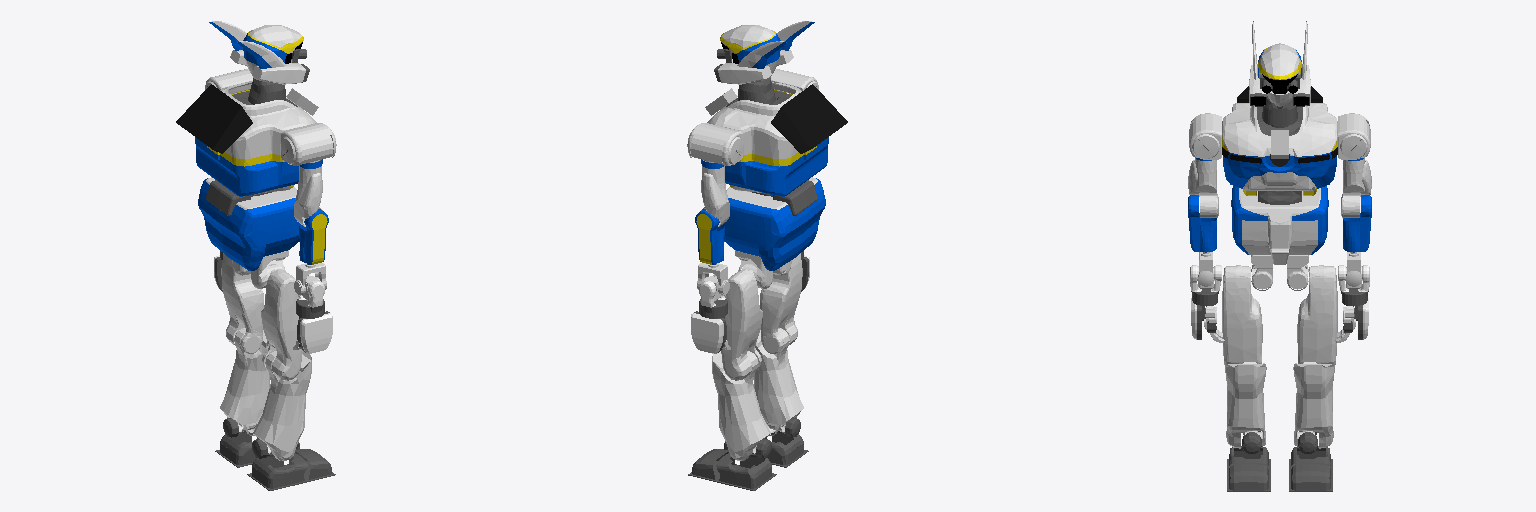
--- Render facts (derived) ---
The picture shows the robot from 3 angles, left to right: view 1: azimuth 30°, elevation 25°; view 2: azimuth 150°, elevation 25°; view 3: azimuth 270°, elevation 25°; orthographic projection.
Robot: HRP2JSKNT — 78 links, 77 joints (46 revolute, 3 continuous, 28 fixed); root link BODY; default pose: all joints at 0.
Visible links, largest first — view 1: CHEST_LINK1, BODY, HEAD_LINK1, RLEG_LINK3, RLEG_LINK2, LLEG_LINK3, LLEG_LINK2, RARM_LINK6, RLEG_LINK5, RARM_LINK2, RARM_LINK3, RARM_LINK0 (+7 smaller); view 2: CHEST_LINK1, BODY, HEAD_LINK1, LLEG_LINK3, LLEG_LINK2, RLEG_LINK3, RLEG_LINK2, LARM_LINK6, LLEG_LINK5, LARM_LINK2, LARM_LINK3, LARM_LINK0 (+7 smaller); view 3: CHEST_LINK1, BODY, LLEG_LINK2, RLEG_LINK2, HEAD_LINK1, LLEG_LINK3, RLEG_LINK3, LARM_LINK2, RARM_LINK2, LARM_LINK0, RARM_LINK0, LARM_LINK6 (+9 smaller).
Boxes of the visible links, x1,y1,x2,y2 form: CHEST_LINK1: (176,82,318,196); BODY: (198,177,300,270); HEAD_LINK1: (209,21,309,84); RLEG_LINK3: (253,351,311,460); RLEG_LINK2: (261,269,302,380); LLEG_LINK3: (220,328,269,435); LLEG_LINK2: (221,253,263,353); RARM_LINK6: (296,274,332,353); RLEG_LINK5: (252,439,309,488); RARM_LINK2: (294,159,322,226); RARM_LINK3: (299,209,328,264); RARM_LINK0: (281,123,336,165); CHEST_LINK1: (705,82,847,196); BODY: (723,177,825,270); HEAD_LINK1: (714,21,814,84); LLEG_LINK3: (712,351,770,460); LLEG_LINK2: (721,269,762,380); RLEG_LINK3: (754,328,803,435); RLEG_LINK2: (760,253,802,353); LARM_LINK6: (691,274,727,353); LLEG_LINK5: (714,439,771,488); LARM_LINK2: (701,159,729,226); LARM_LINK3: (695,209,724,264); LARM_LINK0: (687,123,742,165); CHEST_LINK1: (1222,86,1337,195); BODY: (1231,186,1328,264); LLEG_LINK2: (1297,265,1337,365); RLEG_LINK2: (1222,265,1262,365); HEAD_LINK1: (1249,21,1310,106); LLEG_LINK3: (1293,362,1334,448); RLEG_LINK3: (1225,362,1266,448); LARM_LINK2: (1341,158,1371,217); RARM_LINK2: (1188,158,1218,217); LARM_LINK0: (1338,113,1370,159); RARM_LINK0: (1189,113,1221,159); LARM_LINK6: (1338,265,1369,339).
Size in the robot's own frame: 0.4557 by 0.6201 by 1.61 metres.
47 mesh visuals loaded from 49 distinct referenced files (47 Collada DAE); not drawn: 2 (reference not matched to a file when rendering).

The robot description file, URDF, robot "HRP2JSKNT":
<?xml version="1.0" ?>
<!-- =================================================================================== -->
<!-- |    This document was autogenerated by xacro from [local-path]/ros/hydro/src/rtm-ros-robotics/rtmros_tutorials/hrpsys_ros_bridge_tutorials/models//HRP2JSKNT.urdf.xacro | -->
<!-- |    EDITING THIS FILE BY HAND IS NOT RECOMMENDED                                 | -->
<!-- =================================================================================== -->
<robot name="HRP2JSKNT" xmlns:xacro="http://www.ros.org/wiki/xacro" xmlns:xi="http://www.w3.org/2001/XInclude">
	<link name="BODY">
		<visual>
			<origin rpy="0 -0 0" xyz="0 0 0.718"/>
			<geometry>
				<mesh filename="package://hrpsys_ros_bridge_tutorials/models/HRP2JSKNT_meshes/BODY_mesh.dae" scale="1 1 1"/>
			</geometry>
		</visual>
		<collision>
			<origin rpy="0 -0 0" xyz="0 0 0.718"/>
			<geometry>
				<mesh filename="package://hrpsys_ros_bridge_tutorials/models/HRP2JSKNT_meshes/BODY_mesh.dae" scale="1 1 1"/>
			</geometry>
		</collision>
		<inertial>
			<mass value="13.5495"/>
			<origin rpy="0 -0 0" xyz="-0.036953 1.33107e-07 0.195848"/>
			<inertia ixx="0.161026" ixy="-2.6504e-07" ixz="0.000706962" iyy="0.09528" iyz="-1.95085e-07" izz="0.191914"/>
		</inertial>
	</link>
	<gazebo reference="BODY">
		<mu1>0.9</mu1>
		<mu2>0.9</mu2>
	</gazebo>
	<link name="CHEST_LINK0">
		<visual>
			<origin rpy="0 -0 0" xyz="0.032 0 0.3507"/>
			<geometry>
				<mesh filename="package://hrpsys_ros_bridge_tutorials/models/HRP2JSKNT_meshes/CHEST_LINK0_mesh.dae" scale="1 1 1"/>
			</geometry>
		</visual>
		<collision>
			<origin rpy="0 -0 0" xyz="0.032 0 0.3507"/>
			<geometry>
				<mesh filename="package://hrpsys_ros_bridge_tutorials/models/HRP2JSKNT_meshes/CHEST_LINK0_mesh.dae" scale="1 1 1"/>
			</geometry>
		</collision>
		<inertial>
			<mass value="0.786369"/>
			<origin rpy="0 -0 0" xyz="-0.0158016 0.00529544 -0.0251963"/>
			<inertia ixx="0.00181617" ixy="-7.322e-05" ixz="-0.00027731" iyy="0.00185079" iyz="-0.00010749" izz="0.00233207"/>
		</inertial>
	</link>
	<gazebo reference="CHEST_LINK0">
		<mu1>0.9</mu1>
		<mu2>0.9</mu2>
	</gazebo>
	<link name="CHEST_LINK1">
		<visual>
			<origin rpy="0 -0 0" xyz="0 0 0"/>
			<geometry>
				<mesh filename="package://hrpsys_ros_bridge_tutorials/models/HRP2JSKNT_meshes/CHEST_LINK1_mesh.dae" scale="1 1 1"/>
			</geometry>
		</visual>
		<collision>
			<origin rpy="0 -0 0" xyz="0 0 0"/>
			<geometry>
				<mesh filename="package://hrpsys_ros_bridge_tutorials/models/HRP2JSKNT_meshes/CHEST_LINK1_mesh.dae" scale="1 1 1"/>
			</geometry>
		</collision>
		<inertial>
			<mass value="12.4296"/>
			<origin rpy="0 -0 0" xyz="-0.038751 0.006642 0.129476"/>
			<inertia ixx="0.160476" ixy="-0.00135932" ixz="-0.00414493" iyy="0.136846" iyz="0.00388036" izz="0.181669"/>
		</inertial>
	</link>
	<gazebo reference="CHEST_LINK1">
		<mu1>0.9</mu1>
		<mu2>0.9</mu2>
	</gazebo>
	<link name="HEAD_LINK0">
		<visual>
			<origin rpy="0 -0 0" xyz="-0.007 0 0.2973"/>
			<geometry>
				<mesh filename="package://hrpsys_ros_bridge_tutorials/models/HRP2JSKNT_meshes/HEAD_LINK0_mesh.dae" scale="1 1 1"/>
			</geometry>
		</visual>
		<collision>
			<origin rpy="0 -0 0" xyz="-0.007 0 0.2973"/>
			<geometry>
				<mesh filename="package://hrpsys_ros_bridge_tutorials/models/HRP2JSKNT_meshes/HEAD_LINK0_mesh.dae" scale="1 1 1"/>
			</geometry>
		</collision>
		<inertial>
			<mass value="0.362181"/>
			<origin rpy="0 -0 0" xyz="-0.00090801 0.00274824 -0.00825901"/>
			<inertia ixx="0.00038285" ixy="-5.2e-07" ixz="2.24e-06" iyy="0.00021609" iyz="-7.26e-06" izz="0.0003473"/>
		</inertial>
	</link>
	<gazebo reference="HEAD_LINK0">
		<mu1>0.9</mu1>
		<mu2>0.9</mu2>
	</gazebo>
	<link name="HEAD_LINK1">
		<visual>
			<origin rpy="0 -0 0" xyz="0 0 0"/>
			<geometry>
				<mesh filename="package://hrpsys_ros_bridge_tutorials/models/HRP2JSKNT_meshes/HEAD_LINK1_mesh.dae" scale="1 1 1"/>
			</geometry>
		</visual>
		<collision>
			<origin rpy="0 -0 0" xyz="0 0 0"/>
			<geometry>
				<mesh filename="package://hrpsys_ros_bridge_tutorials/models/HRP2JSKNT_meshes/HEAD_LINK1_mesh.dae" scale="1 1 1"/>
			</geometry>
		</collision>
		<inertial>
			<mass value="3.02154"/>
			<origin rpy="0 -0 0" xyz="0.002748 -0.000165 0.096609"/>
			<inertia ixx="0.00393357" ixy="4.68e-06" ixz="7.928e-05" iyy="0.00413822" iyz="-9.051e-05" izz="0.00524469"/>
		</inertial>
	</link>
	<gazebo reference="HEAD_LINK1">
		<mu1>0.9</mu1>
		<mu2>0.9</mu2>
	</gazebo>
	<link name="LARM_LINK0">
		<visual>
			<origin rpy="0 -0 0" xyz="0.008 0.25 0.181"/>
			<geometry>
				<mesh filename="package://hrpsys_ros_bridge_tutorials/models/HRP2JSKNT_meshes/LARM_LINK0_mesh.dae" scale="1 1 1"/>
			</geometry>
		</visual>
		<collision>
			<origin rpy="0 -0 0" xyz="0.008 0.25 0.181"/>
			<geometry>
				<mesh filename="package://hrpsys_ros_bridge_tutorials/models/HRP2JSKNT_meshes/LARM_LINK0_mesh.dae" scale="1 1 1"/>
			</geometry>
		</collision>
		<inertial>
			<mass value="0.810076"/>
			<origin rpy="0 -0 0" xyz="-0.00989448 -0.0464526 -0.00015316"/>
			<inertia ixx="0.00221115" ixy="0.00030424" ixz="1.47e-06" iyy="0.00184189" iyz="-4.667e-05" izz="0.00344772"/>
		</inertial>
	</link>
	<gazebo reference="LARM_LINK0">
		<mu1>0.9</mu1>
		<mu2>0.9</mu2>
	</gazebo>
	<link name="LARM_LINK1">
		<visual>
			<origin rpy="0 -0 0" xyz="0 0 0"/>
			<geometry>
				<mesh filename="package://hrpsys_ros_bridge_tutorials/models/HRP2JSKNT_meshes/LARM_LINK1_mesh.dae" scale="1 1 1"/>
			</geometry>
		</visual>
		<collision>
			<origin rpy="0 -0 0" xyz="0 0 0"/>
			<geometry>
				<mesh filename="package://hrpsys_ros_bridge_tutorials/models/HRP2JSKNT_meshes/LARM_LINK1_mesh.dae" scale="1 1 1"/>
			</geometry>
		</collision>
		<inertial>
			<mass value="1.03448"/>
			<origin rpy="0 -0 0" xyz="-0.0105646 0.0120429 -0.00948156"/>
			<inertia ixx="0.00122098" ixy="-0.00028119" ixz="9.407e-05" iyy="0.00172216" iyz="-0.00012041" izz="0.00161319"/>
		</inertial>
	</link>
	<gazebo reference="LARM_LINK1">
		<mu1>0.9</mu1>
		<mu2>0.9</mu2>
	</gazebo>
	<link name="LARM_LINK2">
		<visual>
			<origin rpy="0 -0 0" xyz="0 0 0"/>
			<geometry>
				<mesh filename="package://hrpsys_ros_bridge_tutorials/models/HRP2JSKNT_meshes/LARM_LINK2_mesh.dae" scale="1 1 1"/>
			</geometry>
		</visual>
		<collision>
			<origin rpy="0 -0 0" xyz="0 0 0"/>
			<geometry>
				<mesh filename="package://hrpsys_ros_bridge_tutorials/models/HRP2JSKNT_meshes/LARM_LINK2_mesh.dae" scale="1 1 1"/>
			</geometry>
		</collision>
		<inertial>
			<mass value="1.59929"/>
			<origin rpy="0 -0 0" xyz="-0.00543072 0.00479797 -0.166872"/>
			<inertia ixx="0.00973049" ixy="5.13304e-05" ixz="-0.000199167" iyy="0.00970372" iyz="-0.000137469" izz="0.00135331"/>
		</inertial>
	</link>
	<gazebo reference="LARM_LINK2">
		<mu1>0.9</mu1>
		<mu2>0.9</mu2>
	</gazebo>
	<link name="LARM_LINK3">
		<visual>
			<origin rpy="0 -0 0" xyz="0 0 -0.25"/>
			<geometry>
				<mesh filename="package://hrpsys_ros_bridge_tutorials/models/HRP2JSKNT_meshes/LARM_LINK3_mesh.dae" scale="1 1 1"/>
			</geometry>
		</visual>
		<collision>
			<origin rpy="0 -0 0" xyz="0 0 -0.25"/>
			<geometry>
				<mesh filename="package://hrpsys_ros_bridge_tutorials/models/HRP2JSKNT_meshes/LARM_LINK3_mesh.dae" scale="1 1 1"/>
			</geometry>
		</collision>
		<inertial>
			<mass value="0.77725"/>
			<origin rpy="0 -0 0" xyz="-9.27e-06 0.0161684 -0.0627015"/>
			<inertia ixx="0.00232668" ixy="-7e-08" ixz="-3.1e-07" iyy="0.00212476" iyz="-0.00015097" izz="0.00056363"/>
		</inertial>
	</link>
	<gazebo reference="LARM_LINK3">
		<mu1>0.9</mu1>
		<mu2>0.9</mu2>
	</gazebo>
	<link name="LARM_LINK4">
		<visual>
			<origin rpy="0 -0 0" xyz="0 0 -0.25"/>
			<geometry>
				<mesh filename="package://hrpsys_ros_bridge_tutorials/models/HRP2JSKNT_meshes/LARM_LINK4_mesh.dae" scale="1 1 1"/>
			</geometry>
		</visual>
		<collision>
			<origin rpy="0 -0 0" xyz="0 0 -0.25"/>
			<geometry>
				<mesh filename="package://hrpsys_ros_bridge_tutorials/models/HRP2JSKNT_meshes/LARM_LINK4_mesh.dae" scale="1 1 1"/>
			</geometry>
		</collision>
		<inertial>
			<mass value="0.328543"/>
			<origin rpy="0 -0 0" xyz="-0.00840122 -1.406e-05 0.0472199"/>
			<inertia ixx="0.00084438" ixy="4e-08" ixz="-0.00013812" iyy="0.00105692" iyz="2.3e-07" izz="0.00034468"/>
		</inertial>
	</link>
	<gazebo reference="LARM_LINK4">
		<mu1>0.9</mu1>
		<mu2>0.9</mu2>
	</gazebo>
	<link name="LARM_LINK5">
		<visual>
			<origin rpy="0 -0 0" xyz="0 0 0"/>
			<geometry>
				<mesh filename="package://hrpsys_ros_bridge_tutorials/models/HRP2JSKNT_meshes/LARM_LINK5_mesh.dae" scale="1 1 1"/>
			</geometry>
		</visual>
		<collision>
			<origin rpy="0 -0 0" xyz="0 0 0"/>
			<geometry>
				<mesh filename="package://hrpsys_ros_bridge_tutorials/models/HRP2JSKNT_meshes/LARM_LINK5_mesh.dae" scale="1 1 1"/>
			</geometry>
		</collision>
		<inertial>
			<mass value="0.460767"/>
			<origin rpy="0 -0 0" xyz="0.00361678 0.00180569 -0.00656872"/>
			<inertia ixx="0.00026432" ixy="3.17e-06" ixz="-1.177e-05" iyy="0.0002938" iyz="-1.08e-05" izz="0.0002986"/>
		</inertial>
	</link>
	<gazebo reference="LARM_LINK5">
		<mu1>0.9</mu1>
		<mu2>0.9</mu2>
	</gazebo>
	<link name="LARM_LINK7">
		<visual>
			<origin rpy="0 -0 0" xyz="0 -0.0169 -0.114"/>
			<geometry>
				<mesh filename="package://hrpsys_ros_bridge_tutorials/models/HRP2JSKNT_meshes/LARM_LINK7_mesh.dae" scale="1 1 1"/>
			</geometry>
		</visual>
		<collision>
			<origin rpy="0 -0 0" xyz="0 -0.0169 -0.114"/>
			<geometry>
				<mesh filename="package://hrpsys_ros_bridge_tutorials/models/HRP2JSKNT_meshes/LARM_LINK7_mesh.dae" scale="1 1 1"/>
			</geometry>
		</collision>
		<inertial>
			<origin rpy="0 -0 0" xyz="0 0 -1.38778e-17"/>
			<mass value="1e-03"/>
			<inertia ixx="1e-04" ixy="0" ixz="0" iyy="1e-04" iyz="0" izz="1e-04"/>
		</inertial>
	</link>
	<gazebo reference="LARM_LINK7">
		<mu1>0.9</mu1>
		<mu2>0.9</mu2>
	</gazebo>
	<link name="RARM_LINK0">
		<visual>
			<origin rpy="0 -0 0" xyz="0.008 -0.25 0.181"/>
			<geometry>
				<mesh filename="package://hrpsys_ros_bridge_tutorials/models/HRP2JSKNT_meshes/RARM_LINK0_mesh.dae" scale="1 1 1"/>
			</geometry>
		</visual>
		<collision>
			<origin rpy="0 -0 0" xyz="0.008 -0.25 0.181"/>
			<geometry>
				<mesh filename="package://hrpsys_ros_bridge_tutorials/models/HRP2JSKNT_meshes/RARM_LINK0_mesh.dae" scale="1 1 1"/>
			</geometry>
		</collision>
		<inertial>
			<mass value="0.810076"/>
			<origin rpy="0 -0 0" xyz="-0.00989448 0.0464526 -0.00015316"/>
			<inertia ixx="0.00221115" ixy="-0.00030424" ixz="1.47e-06" iyy="0.00184189" iyz="4.667e-05" izz="0.00344772"/>
		</inertial>
	</link>
	<gazebo reference="RARM_LINK0">
		<mu1>0.9</mu1>
		<mu2>0.9</mu2>
	</gazebo>
	<link name="RARM_LINK1">
		<visual>
			<origin rpy="0 -0 0" xyz="0 0 0"/>
			<geometry>
				<mesh filename="package://hrpsys_ros_bridge_tutorials/models/HRP2JSKNT_meshes/RARM_LINK1_mesh.dae" scale="1 1 1"/>
			</geometry>
		</visual>
		<collision>
			<origin rpy="0 -0 0" xyz="0 0 0"/>
			<geometry>
				<mesh filename="package://hrpsys_ros_bridge_tutorials/models/HRP2JSKNT_meshes/RARM_LINK1_mesh.dae" scale="1 1 1"/>
			</geometry>
		</collision>
		<inertial>
			<mass value="1.03448"/>
			<origin rpy="0 -0 0" xyz="-0.0105646 -0.0120429 -0.00948156"/>
			<inertia ixx="0.00122098" ixy="0.00028119" ixz="9.407e-05" iyy="0.00172216" iyz="0.00012041" izz="0.00161319"/>
		</inertial>
	</link>
	<gazebo reference="RARM_LINK1">
		<mu1>0.9</mu1>
		<mu2>0.9</mu2>
	</gazebo>
	<link name="RARM_LINK2">
		<visual>
			<origin rpy="0 -0 0" xyz="0 0 0"/>
			<geometry>
				<mesh filename="package://hrpsys_ros_bridge_tutorials/models/HRP2JSKNT_meshes/RARM_LINK2_mesh.dae" scale="1 1 1"/>
			</geometry>
		</visual>
		<collision>
			<origin rpy="0 -0 0" xyz="0 0 0"/>
			<geometry>
				<mesh filename="package://hrpsys_ros_bridge_tutorials/models/HRP2JSKNT_meshes/RARM_LINK2_mesh.dae" scale="1 1 1"/>
			</geometry>
		</collision>
		<inertial>
			<mass value="1.59929"/>
			<origin rpy="0 -0 0" xyz="-0.00543072 -0.00479797 -0.166872"/>
			<inertia ixx="0.00973049" ixy="-5.13304e-05" ixz="-0.000199167" iyy="0.00970372" iyz="0.000137469" izz="0.00135331"/>
		</inertial>
	</link>
	<gazebo reference="RARM_LINK2">
		<mu1>0.9</mu1>
		<mu2>0.9</mu2>
	</gazebo>
	<link name="RARM_LINK3">
		<visual>
			<origin rpy="0 -0 0" xyz="0 0 -0.25"/>
			<geometry>
				<mesh filename="package://hrpsys_ros_bridge_tutorials/models/HRP2JSKNT_meshes/RARM_LINK3_mesh.dae" scale="1 1 1"/>
			</geometry>
		</visual>
		<collision>
			<origin rpy="0 -0 0" xyz="0 0 -0.25"/>
			<geometry>
				<mesh filename="package://hrpsys_ros_bridge_tutorials/models/HRP2JSKNT_meshes/RARM_LINK3_mesh.dae" scale="1 1 1"/>
			</geometry>
		</collision>
		<inertial>
			<mass value="0.77725"/>
			<origin rpy="0 -0 0" xyz="-9.27e-06 -0.0161684 -0.0627015"/>
			<inertia ixx="0.00232668" ixy="7e-08" ixz="-3.1e-07" iyy="0.00212476" iyz="0.00015097" izz="0.00056363"/>
		</inertial>
	</link>
	<gazebo reference="RARM_LINK3">
		<mu1>0.9</mu1>
		<mu2>0.9</mu2>
	</gazebo>
	<link name="RARM_LINK4">
		<visual>
			<origin rpy="0 -0 0" xyz="0 0 -0.25"/>
			<geometry>
				<mesh filename="package://hrpsys_ros_bridge_tutorials/models/HRP2JSKNT_meshes/RARM_LINK4_mesh.dae" scale="1 1 1"/>
			</geometry>
		</visual>
		<collision>
			<origin rpy="0 -0 0" xyz="0 0 -0.25"/>
			<geometry>
				<mesh filename="package://hrpsys_ros_bridge_tutorials/models/HRP2JSKNT_meshes/RARM_LINK4_mesh.dae" scale="1 1 1"/>
			</geometry>
		</collision>
		<inertial>
			<mass value="0.328543"/>
			<origin rpy="0 -0 0" xyz="-0.00840122 1.406e-05 0.0472199"/>
			<inertia ixx="0.00084438" ixy="-4e-08" ixz="-0.00013812" iyy="0.00105692" iyz="-2.3e-07" izz="0.00034468"/>
		</inertial>
	</link>
	<gazebo reference="RARM_LINK4">
		<mu1>0.9</mu1>
		<mu2>0.9</mu2>
	</gazebo>
	<link name="RARM_LINK5">
		<visual>
			<origin rpy="0 -0 0" xyz="0 0 0"/>
			<geometry>
				<mesh filename="package://hrpsys_ros_bridge_tutorials/models/HRP2JSKNT_meshes/RARM_LINK5_mesh.dae" scale="1 1 1"/>
			</geometry>
		</visual>
		<collision>
			<origin rpy="0 -0 0" xyz="0 0 0"/>
			<geometry>
				<mesh filename="package://hrpsys_ros_bridge_tutorials/models/HRP2JSKNT_meshes/RARM_LINK5_mesh.dae" scale="1 1 1"/>
			</geometry>
		</collision>
		<inertial>
			<mass value="0.460767"/>
			<origin rpy="0 -0 0" xyz="0.00361678 -0.00180569 -0.00656872"/>
			<inertia ixx="0.00026432" ixy="-3.17e-06" ixz="-1.177e-05" iyy="0.0002938" iyz="1.08e-05" izz="0.0002986"/>
		</inertial>
	</link>
	<gazebo reference="RARM_LINK5">
		<mu1>0.9</mu1>
		<mu2>0.9</mu2>
	</gazebo>
	<link name="RARM_LINK7">
		<visual>
			<origin rpy="0 -0 0" xyz="0 0.0169 -0.114"/>
			<geometry>
				<mesh filename="package://hrpsys_ros_bridge_tutorials/models/HRP2JSKNT_meshes/RARM_LINK7_mesh.dae" scale="1 1 1"/>
			</geometry>
		</visual>
		<collision>
			<origin rpy="0 -0 0" xyz="0 0.0169 -0.114"/>
			<geometry>
				<mesh filename="package://hrpsys_ros_bridge_tutorials/models/HRP2JSKNT_meshes/RARM_LINK7_mesh.dae" scale="1 1 1"/>
			</geometry>
		</collision>
		<inertial>
			<origin rpy="0 -0 0" xyz="0 0 -1.38778e-17"/>
			<mass value="1e-03"/>
			<inertia ixx="1e-04" ixy="0" ixz="0" iyy="1e-04" iyz="0" izz="1e-04"/>
		</inertial>
	</link>
	<gazebo reference="RARM_LINK7">
		<mu1>0.9</mu1>
		<mu2>0.9</mu2>
	</gazebo>
	<link name="LLEG_LINK0">
		<visual>
			<origin rpy="0 -0 0" xyz="0 0.06 0"/>
			<geometry>
				<mesh filename="package://hrpsys_ros_bridge_tutorials/models/HRP2JSKNT_meshes/LLEG_LINK0_mesh.dae" scale="1 1 1"/>
			</geometry>
		</visual>
		<collision>
			<origin rpy="0 -0 0" xyz="0 0.06 0"/>
			<geometry>
				<mesh filename="package://hrpsys_ros_bridge_tutorials/models/HRP2JSKNT_meshes/LLEG_LINK0_mesh.dae" scale="1 1 1"/>
			</geometry>
		</collision>
		<inertial>
			<mass value="1.16852"/>
			<origin rpy="0 -0 0" xyz="-0.0103793 -0.00484329 0.0649015"/>
			<inertia ixx="0.00285998" ixy="1.43424e-05" ixz="-0.000555819" iyy="0.00352974" iyz="-8.84038e-06" izz="0.00145427"/>
		</inertial>
	</link>
	<gazebo reference="LLEG_LINK0">
		<mu1>0.9</mu1>
		<mu2>0.9</mu2>
	</gazebo>
	<link name="LLEG_LINK1">
		<visual>
			<origin rpy="0 -0 0" xyz="0 0 0"/>
			<geometry>
				<mesh filename="package://hrpsys_ros_bridge_tutorials/models/HRP2JSKNT_meshes/LLEG_LINK1_mesh.dae" scale="1 1 1"/>
			</geometry>
		</visual>
		<collision>
			<origin rpy="0 -0 0" xyz="0 0 0"/>
			<geometry>
				<mesh filename="package://hrpsys_ros_bridge_tutorials/models/HRP2JSKNT_meshes/LLEG_LINK1_mesh.dae" scale="1 1 1"/>
			</geometry>
		</collision>
		<inertial>
			<mass value="0.80553"/>
			<origin rpy="0 -0 0" xyz="-0.00039826 0.0261287 -0.00292156"/>
			<inertia ixx="0.00126683" ixy="-1.211e-05" ixz="1.64e-06" iyy="0.00050656" iyz="-6.938e-05" izz="0.00132021"/>
		</inertial>
	</link>
	<gazebo reference="LLEG_LINK1">
		<mu1>0.9</mu1>
		<mu2>0.9</mu2>
	</gazebo>
	<link name="LLEG_LINK2">
		<visual>
			<origin rpy="0 -0 0" xyz="0 0 0"/>
			<geometry>
				<mesh filename="package://hrpsys_ros_bridge_tutorials/models/HRP2JSKNT_meshes/LLEG_LINK2_mesh.dae" scale="1 1 1"/>
			</geometry>
		</visual>
		<collision>
			<origin rpy="0 -0 0" xyz="0 0 0"/>
			<geometry>
				<mesh filename="package://hrpsys_ros_bridge_tutorials/models/HRP2JSKNT_meshes/LLEG_LINK2_mesh.dae" scale="1 1 1"/>
			</geometry>
		</collision>
		<inertial>
			<mass value="2.07632"/>
			<origin rpy="0 -0 0" xyz="0.00345946 0.0779422 -0.151684"/>
			<inertia ixx="0.0261976" ixy="3.95406e-05" ixz="0.000573517" iyy="0.0249235" iyz="-0.000670077" izz="0.00376439"/>
		</inertial>
	</link>
	<gazebo reference="LLEG_LINK2">
		<mu1>0.9</mu1>
		<mu2>0.9</mu2>
	</gazebo>
	<link name="LLEG_LINK3">
		<visual>
			<origin rpy="0 -0 0" xyz="0 0 -0.3"/>
			<geometry>
				<mesh filename="package://hrpsys_ros_bridge_tutorials/models/HRP2JSKNT_meshes/LLEG_LINK3_mesh.dae" scale="1 1 1"/>
			</geometry>
		</visual>
		<collision>
			<origin rpy="0 -0 0" xyz="0 0 -0.3"/>
			<geometry>
				<mesh filename="package://hrpsys_ros_bridge_tutorials/models/HRP2JSKNT_meshes/LLEG_LINK3_mesh.dae" scale="1 1 1"/>
			</geometry>
		</collision>
		<inertial>
			<mass value="1.74762"/>
			<origin rpy="0 -0 0" xyz="0.0179878 0.0579164 -0.13839"/>
			<inertia ixx="0.0223269" ixy="9.39152e-05" ixz="-0.00224766" iyy="0.022506" iyz="0.000745178" izz="0.0045544"/>
		</inertial>
	</link>
	<gazebo reference="LLEG_LINK3">
		<mu1>0.9</mu1>
		<mu2>0.9</mu2>
	</gazebo>
	<link name="LLEG_LINK4">
		<visual>
			<origin rpy="0 -0 0" xyz="0 0.035 -0.3"/>
			<geometry>
				<mesh filename="package://hrpsys_ros_bridge_tutorials/models/HRP2JSKNT_meshes/LLEG_LINK4_mesh.dae" scale="1 1 1"/>
			</geometry>
		</visual>
		<collision>
			<origin rpy="0 -0 0" xyz="0 0.035 -0.3"/>
			<geometry>
				<mesh filename="package://hrpsys_ros_bridge_tutorials/models/HRP2JSKNT_meshes/LLEG_LINK4_mesh.dae" scale="1 1 1"/>
			</geometry>
		</collision>
		<inertial>
			<mass value="0.65375"/>
			<origin rpy="0 -0 0" xyz="0.00827083 0.00133301 -0.002418"/>
			<inertia ixx="0.00027773" ixy="5.26e-06" ixz="1.354e-05" iyy="0.00078966" iyz="3.59e-06" izz="0.00086039"/>
		</inertial>
	</link>
	<gazebo reference="LLEG_LINK4">
		<mu1>0.9</mu1>
		<mu2>0.9</mu2>
	</gazebo>
	<link name="LLEG_LINK5">
		<visual>
			<origin rpy="0 -0 0" xyz="0 0 0"/>
			<geometry>
				<mesh filename="package://hrpsys_ros_bridge_tutorials/models/HRP2JSKNT_meshes/LLEG_LINK5_mesh.dae" scale="1 1 1"/>
			</geometry>
		</visual>
		<collision>
			<origin rpy="0 -0 0" xyz="0 0 0"/>
			<geometry>
				<mesh filename="package://hrpsys_ros_bridge_tutorials/models/HRP2JSKNT_meshes/LLEG_LINK5_mesh.dae" scale="1 1 1"/>
			</geometry>
		</collision>
		<inertial>
			<mass value="1.80877"/>
			<origin rpy="0 -0 0" xyz="-0.000602 0.004248 -0.066744"/>
			<inertia ixx="0.00400076" ixy="-9.983e-05" ixz="0.00079295" iyy="0.00687611" iyz="0.00018541" izz="0.00711516"/>
		</inertial>
	</link>
	<link name="LLEG_LINK6">
		<visual>
			<origin rpy="0 -0 0" xyz="0.115 0 -0.084"/>
			<geometry>
				<mesh filename="package://hrpsys_ros_bridge_tutorials/models/HRP2JSKNT_meshes/LLEG_LINK6_mesh.dae" scale="1 1 1"/>
			</geometry>
		</visual>
		<collision>
			<origin rpy="0 -0 0" xyz="0.115 0 -0.084"/>
			<geometry>
				<mesh filename="package://hrpsys_ros_bridge_tutorials/models/HRP2JSKNT_meshes/LLEG_LINK6_mesh.dae" scale="1 1 1"/>
			</geometry>
		</collision>
		<inertial>
			<mass value="0.819152"/>
			<origin rpy="0 -0 0" xyz="-0.011449 0.004827 -0.019364"/>
			<inertia ixx="0.00076266" ixy="2.741e-05" ixz="2.69e-06" iyy="0.00035733" iyz="1.182e-05" izz="0.00095164"/>
		</inertial>
	</link>
	<link name="RLEG_LINK0">
		<visual>
			<origin rpy="0 -0 0" xyz="0 -0.06 0"/>
			<geometry>
				<mesh filename="package://hrpsys_ros_bridge_tutorials/models/HRP2JSKNT_meshes/RLEG_LINK0_mesh.dae" scale="1 1 1"/>
			</geometry>
		</visual>
		<collision>
			<origin rpy="0 -0 0" xyz="0 -0.06 0"/>
			<geometry>
				<mesh filename="package://hrpsys_ros_bridge_tutorials/models/HRP2JSKNT_meshes/RLEG_LINK0_mesh.dae" scale="1 1 1"/>
			</geometry>
		</collision>
		<inertial>
			<mass value="1.16852"/>
			<origin rpy="0 -0 0" xyz="-0.0103793 0.00484329 0.0649015"/>
			<inertia ixx="0.00285998" ixy="-1.43424e-05" ixz="-0.000555819" iyy="0.00352974" iyz="8.84038e-06" izz="0.00145427"/>
		</inertial>
	</link>
	<gazebo reference="RLEG_LINK0">
		<mu1>0.9</mu1>
		<mu2>0.9</mu2>
	</gazebo>
	<link name="RLEG_LINK1">
		<visual>
			<origin rpy="0 -0 0" xyz="0 0 0"/>
			<geometry>
				<mesh filename="package://hrpsys_ros_bridge_tutorials/models/HRP2JSKNT_meshes/RLEG_LINK1_mesh.dae" scale="1 1 1"/>
			</geometry>
		</visual>
		<collision>
			<origin rpy="0 -0 0" xyz="0 0 0"/>
			<geometry>
				<mesh filename="package://hrpsys_ros_bridge_tutorials/models/HRP2JSKNT_meshes/RLEG_LINK1_mesh.dae" scale="1 1 1"/>
			</geometry>
		</collision>
		<inertial>
			<mass value="0.80553"/>
			<origin rpy="0 -0 0" xyz="-0.00039826 -0.0261287 -0.00292156"/>
			<inertia ixx="0.00126683" ixy="1.211e-05" ixz="1.64e-06" iyy="0.00050656" iyz="6.938e-05" izz="0.00132021"/>
		</inertial>
	</link>
	<gazebo reference="RLEG_LINK1">
		<mu1>0.9</mu1>
		<mu2>0.9</mu2>
	</gazebo>
	<link name="RLEG_LINK2">
		<visual>
			<origin rpy="0 -0 0" xyz="0 0 0"/>
			<geometry>
				<mesh filename="package://hrpsys_ros_bridge_tutorials/models/HRP2JSKNT_meshes/RLEG_LINK2_mesh.dae" scale="1 1 1"/>
			</geometry>
		</visual>
		<collision>
			<origin rpy="0 -0 0" xyz="0 0 0"/>
			<geometry>
				<mesh filename="package://hrpsys_ros_bridge_tutorials/models/HRP2JSKNT_meshes/RLEG_LINK2_mesh.dae" scale="1 1 1"/>
			</geometry>
		</collision>
		<inertial>
			<mass value="2.07632"/>
			<origin rpy="0 -0 0" xyz="0.00345946 -0.0779422 -0.151684"/>
			<inertia ixx="0.0261976" ixy="-3.95406e-05" ixz="0.000573517" iyy="0.0249235" iyz="0.000670077" izz="0.00376439"/>
		</inertial>
	</link>
	<gazebo reference="RLEG_LINK2">
		<mu1>0.9</mu1>
		<mu2>0.9</mu2>
	</gazebo>
	<link name="RLEG_LINK3">
		<visual>
			<origin rpy="0 -0 0" xyz="0 0 -0.3"/>
			<geometry>
				<mesh filename="package://hrpsys_ros_bridge_tutorials/models/HRP2JSKNT_meshes/RLEG_LINK3_mesh.dae" scale="1 1 1"/>
			</geometry>
		</visual>
		<collision>
			<origin rpy="0 -0 0" xyz="0 0 -0.3"/>
			<geometry>
				<mesh filename="package://hrpsys_ros_bridge_tutorials/models/HRP2JSKNT_meshes/RLEG_LINK3_mesh.dae" scale="1 1 1"/>
			</geometry>
		</collision>
		<inertial>
			<mass value="1.74762"/>
			<origin rpy="0 -0 0" xyz="0.0179878 -0.0579164 -0.13839"/>
			<inertia ixx="0.0223269" ixy="-9.39152e-05" ixz="-0.00224766" iyy="0.022506" iyz="-0.000745178" izz="0.0045544"/>
		</inertial>
	</link>
	<gazebo reference="RLEG_LINK3">
		<mu1>0.9</mu1>
		<mu2>0.9</mu2>
	</gazebo>
	<link name="RLEG_LINK4">
		<visual>
			<origin rpy="0 -0 0" xyz="0 -0.035 -0.3"/>
			<geometry>
				<mesh filename="package://hrpsys_ros_bridge_tutorials/models/HRP2JSKNT_meshes/RLEG_LINK4_mesh.dae" scale="1 1 1"/>
			</geometry>
		</visual>
		<collision>
			<origin rpy="0 -0 0" xyz="0 -0.035 -0.3"/>
			<geometry>
				<mesh filename="package://hrpsys_ros_bridge_tutorials/models/HRP2JSKNT_meshes/RLEG_LINK4_mesh.dae" scale="1 1 1"/>
			</geometry>
		</collision>
		<inertial>
			<mass value="0.65375"/>
			<origin rpy="0 -0 0" xyz="0.00827083 -0.00133301 -0.002418"/>
			<inertia ixx="0.00027773" ixy="-5.26e-06" ixz="1.354e-05" iyy="0.00078966" iyz="-3.59e-06" izz="0.00086039"/>
		</inertial>
	</link>
	<gazebo reference="RLEG_LINK4">
		<mu1>0.9</mu1>
		<mu2>0.9</mu2>
	</gazebo>
	<link name="RLEG_LINK5">
		<visual>
			<origin rpy="0 -0 0" xyz="0 0 0"/>
			<geometry>
				<mesh filename="package://hrpsys_ros_bridge_tutorials/models/HRP2JSKNT_meshes/RLEG_LINK5_mesh.dae" scale="1 1 1"/>
			</geometry>
		</visual>
		<collision>
			<origin rpy="0 -0 0" xyz="0 0 0"/>
			<geometry>
				<mesh filename="package://hrpsys_ros_bridge_tutorials/models/HRP2JSKNT_meshes/RLEG_LINK5_mesh.dae" scale="1 1 1"/>
			</geometry>
		</collision>
		<inertial>
			<mass value="1.80877"/>
			<origin rpy="0 -0 0" xyz="-0.000602 -0.004248 -0.066744"/>
			<inertia ixx="0.00400076" ixy="9.983e-05" ixz="0.00079295" iyy="0.00687611" iyz="-0.00018541" izz="0.00711516"/>
		</inertial>
	</link>
	<link name="RLEG_LINK6">
		<visual>
			<origin rpy="0 -0 0" xyz="0.115 0 -0.084"/>
			<geometry>
				<mesh filename="package://hrpsys_ros_bridge_tutorials/models/HRP2JSKNT_meshes/RLEG_LINK6_mesh.dae" scale="1 1 1"/>
			</geometry>
		</visual>
		<collision>
			<origin rpy="0 -0 0" xyz="0.115 0 -0.084"/>
			<geometry>
				<mesh filename="package://hrpsys_ros_bridge_tutorials/models/HRP2JSKNT_meshes/RLEG_LINK6_mesh.dae" scale="1 1 1"/>
			</geometry>
		</collision>
		<inertial>
			<mass value="0.819152"/>
			<origin rpy="0 -0 0" xyz="-0.011449 -0.012396 -0.019364"/>
			<inertia ixx="0.00076266" ixy="2.741e-05" ixz="2.69e-06" iyy="0.00035733" iyz="1.182e-05" izz="0.00095164"/>
		</inertial>
	</link>
	<joint name="CHEST_JOINT0" type="revolute">
		<parent link="BODY"/>
		<child link="CHEST_LINK0"/>
		<origin rpy="0 -0 0 " xyz="0.032 0 0.3507"/>
		<axis xyz="0 0 1"/>
		<limit effort="151.8" lower="-0.785398" upper="0.785398" velocity="4.40217"/>
		<dynamics damping="0.2" friction="0"/>
	</joint>
	<transmission name="CHEST_JOINT0_trans" type="pr2_mechanism_model/SimpleTransmission">
		<actuator name="CHEST_JOINT0_motor"/>
		<joint name="CHEST_JOINT0"/>
		<mechanicalReduction>1</mechanicalReduction>
	</transmission>
	<gazebo reference="CHEST_JOINT0">
		<cfmDamping>0.4</cfmDamping>
	</gazebo>
	<joint name="CHEST_JOINT1" type="revolute">
		<parent link="CHEST_LINK0"/>
		<child link="CHEST_LINK1"/>
		<origin rpy="0 -0 0 " xyz="0 0 0"/>
		<axis xyz="0 1 0"/>
		<limit effort="278.9" lower="-0.0872665" upper="1.0472" velocity="2.3963"/>
		<dynamics damping="0.2" friction="0"/>
	</joint>
	<transmission name="CHEST_JOINT1_trans" type="pr2_mechanism_model/SimpleTransmission">
		<actuator name="CHEST_JOINT1_motor"/>
		<joint name="CHEST_JOINT1"/>
		<mechanicalReduction>1</mechanicalReduction>
	</transmission>
	<gazebo reference="CHEST_JOINT1">
		<cfmDamping>0.4</cfmDamping>
	</gazebo>
	<joint name="HEAD_JOINT0" type="revolute">
		<parent link="CHEST_LINK1"/>
		<child link="HEAD_LINK0"/>
		<origin rpy="0 -0 0 " xyz="-0.007 0 0.2973"/>
		<axis xyz="0 0 1"/>
		<limit effort="9.6" lower="-0.785398" upper="0.785398" velocity="6.87679"/>
		<dynamics damping="0.2" friction="0"/>
	</joint>
	<transmission name="HEAD_JOINT0_trans" type="pr2_mechanism_model/SimpleTransmission">
		<actuator name="HEAD_JOINT0_motor"/>
		<joint name="HEAD_JOINT0"/>
		<mechanicalReduction>1</mechanicalReduction>
	</transmission>
	<gazebo reference="HEAD_JOINT0">
		<cfmDamping>0.4</cfmDamping>
	</gazebo>
	<joint name="HEAD_JOINT1" type="revolute">
		<parent link="HEAD_LINK0"/>
		<child link="HEAD_LINK1"/>
		<origin rpy="0 -0 0 " xyz="0 0 0"/>
		<axis xyz="0 1 0"/>
		<limit effort="9.6" lower="-0.523599" upper="0.759218" velocity="6.87679"/>
		<dynamics damping="0.2" friction="0"/>
	</joint>
	<transmission name="HEAD_JOINT1_trans" type="pr2_mechanism_model/SimpleTransmission">
		<actuator name="HEAD_JOINT1_motor"/>
		<joint name="HEAD_JOINT1"/>
		<mechanicalReduction>1</mechanicalReduction>
	</transmission>
	<gazebo reference="HEAD_JOINT1">
		<cfmDamping>0.4</cfmDamping>
	</gazebo>
	<joint name="LARM_JOINT0" type="revolute">
		<parent link="CHEST_LINK1"/>
		<child link="LARM_LINK0"/>
		<origin rpy="0 -0 0 " xyz="0.008 0.25 0.181"/>
		<axis xyz="0 1 0"/>
		<limit effort="160.3" lower="-3.14159" upper="1.0472" velocity="4.17044"/>
		<dynamics damping="0.2" friction="0"/>
	</joint>
	<transmission name="LARM_JOINT0_trans" type="pr2_mechanism_model/SimpleTransmission">
		<actuator name="LARM_JOINT0_motor"/>
		<joint name="LARM_JOINT0"/>
		<mechanicalReduction>1</mechanicalReduction>
	</transmission>
	<gazebo reference="LARM_JOINT0">
		<cfmDamping>0.4</cfmDamping>
	</gazebo>
	<joint name="LARM_JOINT1" type="revolute">
		<parent link="LARM_LINK0"/>
		<child link="LARM_LINK1"/>
		<origin rpy="0 -0 0 " xyz="0 0 0"/>
		<axis xyz="1 0 0"/>
		<limit effort="100.4" lower="-0.174533" upper="1.65806" velocity="2.4192"/>
		<dynamics damping="0.2" friction="0"/>
	</joint>
	<transmission name="LARM_JOINT1_trans" type="pr2_mechanism_model/SimpleTransmission">
		<actuator name="LARM_JOINT1_motor"/>
		<joint name="LARM_JOINT1"/>
		<mechanicalReduction>1</mechanicalReduction>
	</transmission>
	<gazebo reference="LARM_JOINT1">
		<cfmDamping>0.4</cfmDamping>
	</gazebo>
	<joint name="LARM_JOINT2" type="revolute">
		<parent link="LARM_LINK1"/>
		<child link="LARM_LINK2"/>
		<origin rpy="0 -0 0 " xyz="0 0 0"/>
		<axis xyz="0 0 1"/>
		<limit effort="48.7" lower="-1.6057" upper="1.6057" velocity="4.15699"/>
		<dynamics damping="0.2" friction="0"/>
	</joint>
	<transmission name="LARM_JOINT2_trans" type="pr2_mechanism_model/SimpleTransmission">
		<actuator name="LARM_JOINT2_motor"/>
		<joint name="LARM_JOINT2"/>
		<mechanicalReduction>1</mechanicalReduction>
	</transmission>
	<gazebo reference="LARM_JOINT2">
		<cfmDamping>0.4</cfmDamping>
	</gazebo>
	<joint name="LARM_JOINT3" type="revolute">
		<parent link="LARM_LINK2"/>
		<child link="LARM_LINK3"/>
		<origin rpy="0 -0 0 " xyz="0 0 -0.25"/>
		<axis xyz="0 1 0"/>
		<limit effort="108.5" lower="-2.3911" upper="0.0349066" velocity="2.23776"/>
		<dynamics damping="0.2" friction="0"/>
	</joint>
	<transmission name="LARM_JOINT3_trans" type="pr2_mechanism_model/SimpleTransmission">
		<actuator name="LARM_JOINT3_motor"/>
		<joint name="LARM_JOINT3"/>
		<mechanicalReduction>1</mechanicalReduction>
	</transmission>
	<gazebo reference="LARM_JOINT3">
		<cfmDamping>0.4</cfmDamping>
	</gazebo>
	<joint name="LARM_JOINT4" type="revolute">
		<parent link="LARM_LINK3"/>
		<child link="LARM_LINK4"/>
		<origin rpy="0 -0 0 " xyz="0 0 -0.25"/>
		<axis xyz="0 0 1"/>
		<limit effort="13.9" lower="-1.85005" upper="1.85005" velocity="4.72794"/>
		<dynamics damping="0.2" friction="0"/>
	</joint>
	<transmission name="LARM_JOINT4_trans" type="pr2_mechanism_model/SimpleTransmission">
		<actuator name="LARM_JOINT4_motor"/>
		<joint name="LARM_JOINT4"/>
		<mechanicalReduction>1</mechanicalReduction>
	</transmission>
	<gazebo reference="LARM_JOINT4">
		<cfmDamping>0.4</cfmDamping>
	</gazebo>
	<joint name="LARM_JOINT5" type="revolute">
		<parent link="LARM_LINK4"/>
		<child link="LARM_LINK5"/>
		<origin rpy="0 -0 0 " xyz="0 0 0"/>
		<axis xyz="1 0 0"/>
		<limit effort="18.74" lower="-1.6057" upper="1.6057" velocity="6.63609"/>
		<dynamics damping="0.2" friction="0"/>
	</joint>
	<transmission name="LARM_JOINT5_trans" type="pr2_mechanism_model/SimpleTransmission">
		<actuator name="LARM_JOINT5_motor"/>
		<joint name="LARM_JOINT5"/>
		<mechanicalReduction>1</mechanicalReduction>
	</transmission>
	<gazebo reference="LARM_JOINT5">
		<cfmDamping>0.4</cfmDamping>
	</gazebo>
	<joint name="LARM_JOINT6" type="revolute">
		<parent link="LARM_LINK5"/>
		<child link="LARM_LINK6"/>
		<origin rpy="0 -0 0 " xyz="0 0 0"/>
		<axis xyz="0 1 0"/>
		<limit effort="16.02" lower="-1.6057" upper="1.6057" velocity="2.77088"/>
		<dynamics damping="0.2" friction="0"/>
	</joint>
	<transmission name="LARM_JOINT6_trans" type="pr2_mechanism_model/SimpleTransmission">
		<actuator name="LARM_JOINT6_motor"/>
		<joint name="LARM_JOINT6"/>
		<mechanicalReduction>1</mechanicalReduction>
	</transmission>
	<gazebo reference="LARM_JOINT6">
		<cfmDamping>0.4</cfmDamping>
	</gazebo>
	<joint name="LARM_JOINT7" type="revolute">
		<parent link="LARM_LINK6"/>
		<child link="LARM_LINK7"/>
		<origin rpy="0 -0 0 " xyz="0 -0.0169 -0.114"/>
		<axis xyz="1 0 0"/>
		<limit effort="13.9" lower="-2.35619" upper="0.279253" velocity="4.72794"/>
		<dynamics damping="0.2" friction="0"/>
	</joint>
	<transmission name="LARM_JOINT7_trans" type="pr2_mechanism_model/SimpleTransmission">
		<actuator name="LARM_JOINT7_motor"/>
		<joint name="LARM_JOINT7"/>
		<mechanicalReduction>1</mechanicalReduction>
	</transmission>
	<gazebo reference="LARM_JOINT7">
		<cfmDamping>0.4</cfmDamping>
	</gazebo>
	<joint name="RARM_JOINT0" type="revolute">
		<parent link="CHEST_LINK1"/>
		<child link="RARM_LINK0"/>
		<origin rpy="0 -0 0 " xyz="0.008 -0.25 0.181"/>
		<axis xyz="0 1 0"/>
		<limit effort="160.3" lower="-3.14159" upper="1.0472" velocity="4.17044"/>
		<dynamics damping="0.2" friction="0"/>
	</joint>
	<transmission name="RARM_JOINT0_trans" type="pr2_mechanism_model/SimpleTransmission">
		<actuator name="RARM_JOINT0_motor"/>
		<joint name="RARM_JOINT0"/>
		<mechanicalReduction>1</mechanicalReduction>
	</transmission>
	<gazebo reference="RARM_JOINT0">
		<cfmDamping>0.4</cfmDamping>
	</gazebo>
	<joint name="RARM_JOINT1" type="revolute">
		<parent link="RARM_LINK0"/>
		<child link="RARM_LINK1"/>
		<origin rpy="0 -0 0 " xyz="0 0 0"/>
		<axis xyz="1 0 0"/>
		<limit effort="100.4" lower="-1.65806" upper="0.174533" velocity="2.4192"/>
		<dynamics damping="0.2" friction="0"/>
	</joint>
	<transmission name="RARM_JOINT1_trans" type="pr2_mechanism_model/SimpleTransmission">
		<actuator name="RARM_JOINT1_motor"/>
		<joint name="RARM_JOINT1"/>
		<mechanicalReduction>1</mechanicalReduction>
	</transmission>
	<gazebo reference="RARM_JOINT1">
		<cfmDamping>0.4</cfmDamping>
	</gazebo>
	<joint name="RARM_JOINT2" type="revolute">
		<parent link="RARM_LINK1"/>
		<child link="RARM_LINK2"/>
		<origin rpy="0 -0 0 " xyz="0 0 0"/>
		<axis xyz="0 0 1"/>
		<limit effort="48.7" lower="-1.6057" upper="1.6057" velocity="4.15699"/>
		<dynamics damping="0.2" friction="0"/>
	</joint>
	<transmission name="RARM_JOINT2_trans" type="pr2_mechanism_model/SimpleTransmission">
		<actuator name="RARM_JOINT2_motor"/>
		<joint name="RARM_JOINT2"/>
		<mechanicalReduction>1</mechanicalReduction>
	</transmission>
	<gazebo reference="RARM_JOINT2">
		<cfmDamping>0.4</cfmDamping>
	</gazebo>
	<joint name="RARM_JOINT3" type="revolute">
		<parent link="RARM_LINK2"/>
		<child link="RARM_LINK3"/>
		<origin rpy="0 -0 0 " xyz="0 0 -0.25"/>
		<axis xyz="0 1 0"/>
		<limit effort="108.5" lower="-2.3911" upper="0.0349066" velocity="2.23776"/>
		<dynamics damping="0.2" friction="0"/>
	</joint>
	<transmission name="RARM_JOINT3_trans" type="pr2_mechanism_model/SimpleTransmission">
		<actuator name="RARM_JOINT3_motor"/>
		<joint name="RARM_JOINT3"/>
		<mechanicalReduction>1</mechanicalReduction>
	</transmission>
	<gazebo reference="RARM_JOINT3">
		<cfmDamping>0.4</cfmDamping>
	</gazebo>
	<joint name="RARM_JOINT4" type="revolute">
		<parent link="RARM_LINK3"/>
		<child link="RARM_LINK4"/>
		<origin rpy="0 -0 0 " xyz="0 0 -0.25"/>
		<axis xyz="0 0 1"/>
		<limit effort="13.9" lower="-1.85005" upper="1.85005" velocity="4.72794"/>
		<dynamics damping="0.2" friction="0"/>
	</joint>
	<transmission name="RARM_JOINT4_trans" type="pr2_mechanism_model/SimpleTransmission">
		<actuator name="RARM_JOINT4_motor"/>
		<joint name="RARM_JOINT4"/>
		<mechanicalReduction>1</mechanicalReduction>
	</transmission>
	<gazebo reference="RARM_JOINT4">
		<cfmDamping>0.4</cfmDamping>
	</gazebo>
	<joint name="RARM_JOINT5" type="revolute">
		<parent link="RARM_LINK4"/>
		<child link="RARM_LINK5"/>
		<origin rpy="0 -0 0 " xyz="0 0 0"/>
		<axis xyz="1 0 0"/>
		<limit effort="18.74" lower="-1.6057" upper="1.6057" velocity="6.63609"/>
		<dynamics damping="0.2" friction="0"/>
	</joint>
	<transmission name="RARM_JOINT5_trans" type="pr2_mechanism_model/SimpleTransmission">
		<actuator name="RARM_JOINT5_motor"/>
		<joint name="RARM_JOINT5"/>
		<mechanicalReduction>1</mechanicalReduction>
	</transmission>
	<gazebo reference="RARM_JOINT5">
		<cfmDamping>0.4</cfmDamping>
	</gazebo>
	<joint name="RARM_JOINT6" type="revolute">
		<parent link="RARM_LINK5"/>
		<child link="RARM_LINK6"/>
		<origin rpy="0 -0 0 " xyz="0 0 0"/>
		<axis xyz="0 1 0"/>
		<limit effort="16.02" lower="-1.6057" upper="1.6057" velocity="2.77088"/>
		<dynamics damping="0.2" friction="0"/>
	</joint>
	<transmission name="RARM_JOINT6_trans" type="pr2_mechanism_model/SimpleTransmission">
		<actuator name="RARM_JOINT6_motor"/>
		<joint name="RARM_JOINT6"/>
		<mechanicalReduction>1</mechanicalReduction>
	</transmission>
	<gazebo reference="RARM_JOINT6">
		<cfmDamping>0.4</cfmDamping>
	</gazebo>
	<joint name="RARM_JOINT7" type="revolute">
		<parent link="RARM_LINK6"/>
		<child link="RARM_LINK7"/>
		<origin rpy="0 -0 0 " xyz="0 0.0169 -0.114"/>
		<axis xyz="1 0 0"/>
		<limit effort="13.9" lower="-0.279253" upper="2.35619" velocity="4.72794"/>
		<dynamics damping="0.2" friction="0"/>
	</joint>
	<transmission name="RARM_JOINT7_trans" type="pr2_mechanism_model/SimpleTransmission">
		<actuator name="RARM_JOINT7_motor"/>
		<joint name="RARM_JOINT7"/>
		<mechanicalReduction>1</mechanicalReduction>
	</transmission>
	<gazebo reference="RARM_JOINT7">
		<cfmDamping>0.4</cfmDamping>
	</gazebo>
	<joint name="LLEG_JOINT0" type="revolute">
		<parent link="BODY"/>
		<child link="LLEG_LINK0"/>
		<origin rpy="0 -0 0 " xyz="0 0.06 0"/>
		<axis xyz="0 0 1"/>
		<limit effort="86.2" lower="-0.523599" upper="0.785398" velocity="3.54108"/>
		<dynamics damping="0.2" friction="0"/>
	</joint>
	<transmission name="LLEG_JOINT0_trans" type="pr2_mechanism_model/SimpleTransmission">
		<actuator name="LLEG_JOINT0_motor"/>
		<joint name="LLEG_JOINT0"/>
		<mechanicalReduction>1</mechanicalReduction>
	</transmission>
	<gazebo reference="LLEG_JOINT0">
		<cfmDamping>0.4</cfmDamping>
	</gazebo>
	<joint name="LLEG_JOINT1" type="revolute">
		<parent link="LLEG_LINK0"/>
		<child link="LLEG_LINK1"/>
		<origin rpy="0 -0 0 " xyz="0 0 0"/>
		<axis xyz="1 0 0"/>
		<limit effort="175.4" lower="-0.349066" upper="0.610865" velocity="3.80952"/>
		<dynamics damping="0.2" friction="0"/>
	</joint>
	<transmission name="LLEG_JOINT1_trans" type="pr2_mechanism_model/SimpleTransmission">
		<actuator name="LLEG_JOINT1_motor"/>
		<joint name="LLEG_JOINT1"/>
		<mechanicalReduction>1</mechanicalReduction>
	</transmission>
	<gazebo reference="LLEG_JOINT1">
		<cfmDamping>0.4</cfmDamping>
	</gazebo>
	<joint name="LLEG_JOINT2" type="revolute">
		<parent link="LLEG_LINK1"/>
		<child link="LLEG_LINK2"/>
		<origin rpy="0 -0 0 " xyz="0 0 0"/>
		<axis xyz="0 1 0"/>
		<limit effort="151.4" lower="-2.18166" upper="0.733038" velocity="4.42233"/>
		<dynamics damping="0.2" friction="0"/>
	</joint>
	<transmission name="LLEG_JOINT2_trans" type="pr2_mechanism_model/SimpleTransmission">
		<actuator name="LLEG_JOINT2_motor"/>
		<joint name="LLEG_JOINT2"/>
		<mechanicalReduction>1</mechanicalReduction>
	</transmission>
	<gazebo reference="LLEG_JOINT2">
		<cfmDamping>0.4</cfmDamping>
	</gazebo>
	<joint name="LLEG_JOINT3" type="revolute">
		<parent link="LLEG_LINK2"/>
		<child link="LLEG_LINK3"/>
		<origin rpy="0 -0 0 " xyz="0 0 -0.3"/>
		<axis xyz="0 1 0"/>
		<limit effort="168.3" lower="-0.0349066" upper="2.61799" velocity="3.9801"/>
		<dynamics damping="0.2" friction="0"/>
	</joint>
	<transmission name="LLEG_JOINT3_trans" type="pr2_mechanism_model/SimpleTransmission">
		<actuator name="LLEG_JOINT3_motor"/>
		<joint name="LLEG_JOINT3"/>
		<mechanicalReduction>1</mechanicalReduction>
	</transmission>
	<gazebo reference="LLEG_JOINT3">
		<cfmDamping>0.4</cfmDamping>
	</gazebo>
	<joint name="LLEG_JOINT4" type="revolute">
		<parent link="LLEG_LINK3"/>
		<child link="LLEG_LINK4"/>
		<origin rpy="0 -0 0 " xyz="0 0.035 -0.3"/>
		<axis xyz="0 1 0"/>
		<limit effort="131.6" lower="-1.22173" upper="0.733038" velocity="5.07937"/>
		<dynamics damping="0.2" friction="0"/>
	</joint>
	<transmission name="LLEG_JOINT4_trans" type="pr2_mechanism_model/SimpleTransmission">
		<actuator name="LLEG_JOINT4_motor"/>
		<joint name="LLEG_JOINT4"/>
		<mechanicalReduction>1</mechanicalReduction>
	</transmission>
	<gazebo reference="LLEG_JOINT4">
		<cfmDamping>0.4</cfmDamping>
	</gazebo>
	<joint name="LLEG_JOINT5" type="revolute">
		<parent link="LLEG_LINK4"/>
		<child link="LLEG_LINK5"/>
		<origin rpy="0 -0 0 " xyz="0 0 0"/>
		<axis xyz="1 0 0"/>
		<limit effort="73.1" lower="-0.785398" upper="0.506145" velocity="9.14286"/>
		<dynamics damping="0.2" friction="0"/>
	</joint>
	<transmission name="LLEG_JOINT5_trans" type="pr2_mechanism_model/SimpleTransmission">
		<actuator name="LLEG_JOINT5_motor"/>
		<joint name="LLEG_JOINT5"/>
		<mechanicalReduction>1</mechanicalReduction>
	</transmission>
	<gazebo reference="LLEG_JOINT5">
		<cfmDamping>0.4</cfmDamping>
	</gazebo>
	<joint name="LLEG_JOINT6" type="revolute">
		<parent link="LLEG_LINK5"/>
		<child link="LLEG_LINK6"/>
		<origin rpy="0 -0 0 " xyz="0.115 0 -0.084"/>
		<axis xyz="0 1 0"/>
		<limit effort="35.88" lower="-1.0472" upper="0.279253" velocity="8.85929"/>
		<dynamics damping="0.2" friction="0"/>
	</joint>
	<transmission name="LLEG_JOINT6_trans" type="pr2_mechanism_model/SimpleTransmission">
		<actuator name="LLEG_JOINT6_motor"/>
		<joint name="LLEG_JOINT6"/>
		<mechanicalReduction>1</mechanicalReduction>
	</transmission>
	<gazebo reference="LLEG_JOINT6">
		<cfmDamping>0.4</cfmDamping>
	</gazebo>
	<joint name="RLEG_JOINT0" type="revolute">
		<parent link="BODY"/>
		<child link="RLEG_LINK0"/>
		<origin rpy="0 -0 0 " xyz="0 -0.06 0"/>
		<axis xyz="0 0 1"/>
		<limit effort="86.2" lower="-0.785398" upper="0.523599" velocity="3.54108"/>
		<dynamics damping="0.2" friction="0"/>
	</joint>
	<transmission name="RLEG_JOINT0_trans" type="pr2_mechanism_model/SimpleTransmission">
		<actuator name="RLEG_JOINT0_motor"/>
		<joint name="RLEG_JOINT0"/>
		<mechanicalReduction>1</mechanicalReduction>
	</transmission>
	<gazebo reference="RLEG_JOINT0">
		<cfmDamping>0.4</cfmDamping>
	</gazebo>
	<joint name="RLEG_JOINT1" type="revolute">
		<parent link="RLEG_LINK0"/>
		<child link="RLEG_LINK1"/>
		<origin rpy="0 -0 0 " xyz="0 0 0"/>
		<axis xyz="1 0 0"/>
		<limit effort="175.4" lower="-0.610865" upper="0.349066" velocity="3.80952"/>
		<dynamics damping="0.2" friction="0"/>
	</joint>
	<transmission name="RLEG_JOINT1_trans" type="pr2_mechanism_model/SimpleTransmission">
		<actuator name="RLEG_JOINT1_motor"/>
		<joint name="RLEG_JOINT1"/>
		<mechanicalReduction>1</mechanicalReduction>
	</transmission>
	<gazebo reference="RLEG_JOINT1">
		<cfmDamping>0.4</cfmDamping>
	</gazebo>
	<joint name="RLEG_JOINT2" type="revolute">
		<parent link="RLEG_LINK1"/>
		<child link="RLEG_LINK2"/>
		<origin rpy="0 -0 0 " xyz="0 0 0"/>
		<axis xyz="0 1 0"/>
		<limit effort="151.4" lower="-2.18166" upper="0.733038" velocity="4.42233"/>
		<dynamics damping="0.2" friction="0"/>
	</joint>
	<transmission name="RLEG_JOINT2_trans" type="pr2_mechanism_model/SimpleTransmission">
		<actuator name="RLEG_JOINT2_motor"/>
		<joint name="RLEG_JOINT2"/>
		<mechanicalReduction>1</mechanicalReduction>
	</transmission>
	<gazebo reference="RLEG_JOINT2">
		<cfmDamping>0.4</cfmDamping>
	</gazebo>
	<joint name="RLEG_JOINT3" type="revolute">
		<parent link="RLEG_LINK2"/>
		<child link="RLEG_LINK3"/>
		<origin rpy="0 -0 0 " xyz="0 0 -0.3"/>
		<axis xyz="0 1 0"/>
		<limit effort="168.3" lower="-0.0349066" upper="2.61799" velocity="3.9801"/>
		<dynamics damping="0.2" friction="0"/>
	</joint>
	<transmission name="RLEG_JOINT3_trans" type="pr2_mechanism_model/SimpleTransmission">
		<actuator name="RLEG_JOINT3_motor"/>
		<joint name="RLEG_JOINT3"/>
		<mechanicalReduction>1</mechanicalReduction>
	</transmission>
	<gazebo reference="RLEG_JOINT3">
		<cfmDamping>0.4</cfmDamping>
	</gazebo>
	<joint name="RLEG_JOINT4" type="revolute">
		<parent link="RLEG_LINK3"/>
		<child link="RLEG_LINK4"/>
		<origin rpy="0 -0 0 " xyz="0 -0.035 -0.3"/>
		<axis xyz="0 1 0"/>
		<limit effort="131.6" lower="-1.22173" upper="0.733038" velocity="5.07937"/>
		<dynamics damping="0.2" friction="0"/>
	</joint>
	<transmission name="RLEG_JOINT4_trans" type="pr2_mechanism_model/SimpleTransmission">
		<actuator name="RLEG_JOINT4_motor"/>
		<joint name="RLEG_JOINT4"/>
		<mechanicalReduction>1</mechanicalReduction>
	</transmission>
	<gazebo reference="RLEG_JOINT4">
		<cfmDamping>0.4</cfmDamping>
	</gazebo>
	<joint name="RLEG_JOINT5" type="revolute">
		<parent link="RLEG_LINK4"/>
		<child link="RLEG_LINK5"/>
		<origin rpy="0 -0 0 " xyz="0 0 0"/>
		<axis xyz="1 0 0"/>
		<limit effort="73.1" lower="-0.506145" upper="0.785398" velocity="9.14286"/>
		<dynamics damping="0.2" friction="0"/>
	</joint>
	<transmission name="RLEG_JOINT5_trans" type="pr2_mechanism_model/SimpleTransmission">
		<actuator name="RLEG_JOINT5_motor"/>
		<joint name="RLEG_JOINT5"/>
		<mechanicalReduction>1</mechanicalReduction>
	</transmission>
	<gazebo reference="RLEG_JOINT5">
		<cfmDamping>0.4</cfmDamping>
	</gazebo>
	<joint name="RLEG_JOINT6" type="revolute">
		<parent link="RLEG_LINK5"/>
		<child link="RLEG_LINK6"/>
		<origin rpy="0 -0 0 " xyz="0.115 0 -0.084"/>
		<axis xyz="0 1 0"/>
		<limit effort="35.88" lower="-1.0472" upper="0.279253" velocity="8.85929"/>
		<dynamics damping="0.2" friction="0"/>
	</joint>
	<transmission name="RLEG_JOINT6_trans" type="pr2_mechanism_model/SimpleTransmission">
		<actuator name="RLEG_JOINT6_motor"/>
		<joint name="RLEG_JOINT6"/>
		<mechanicalReduction>1</mechanicalReduction>
	</transmission>
	<gazebo reference="RLEG_JOINT6">
		<cfmDamping>0.4</cfmDamping>
	</gazebo>
	<link name="LARM_LINK6">
		<visual>
			<origin rpy="0 -0 0" xyz="0 0 0"/>
			<geometry>
				<mesh filename="package://hrpsys_ros_bridge_tutorials/models/HRP3HAND_L_meshes/LARM_LINK6_mesh.dae" scale="1 1 1"/>
			</geometry>
		</visual>
		<collision>
			<origin rpy="0 -0 0" xyz="0 0 0"/>
			<geometry>
				<mesh filename="package://hrpsys_ros_bridge_tutorials/models/HRP3HAND_L_meshes/LARM_LINK6_mesh.dae" scale="1 1 1"/>
			</geometry>
		</collision>
		<inertial>
			<mass value="1.33256"/>
			<origin rpy="0 -0 0" xyz="0.00067085 0.00738842 -0.085722"/>
			<inertia ixx="0.00227076" ixy="6.3e-07" ixz="3.217e-05" iyy="0.00214173" iyz="-3.72e-06" izz="0.00067255"/>
		</inertial>
	</link>
	<gazebo reference="LARM_LINK6">
		<mu1>0.9</mu1>
		<mu2>0.9</mu2>
	</gazebo>
	<link name="L_INDEXMP_R_LINK">
		<visual>
			<origin rpy="0 -0 0" xyz="0 -0.0102 -0.1547"/>
			<geometry>
				<mesh filename="package://hrpsys_ros_bridge_tutorials/models/HRP3HAND_L_meshes/L_INDEXMP_R_LINK_mesh.dae" scale="1 1 1"/>
			</geometry>
		</visual>
		<collision>
			<origin rpy="0 -0 0" xyz="0 -0.0102 -0.1547"/>
			<geometry>
				<mesh filename="package://hrpsys_ros_bridge_tutorials/models/HRP3HAND_L_meshes/L_INDEXMP_R_LINK_mesh.dae" scale="1 1 1"/>
			</geometry>
		</collision>
		<inertial>
			<mass value="0.0158629"/>
			<origin rpy="0 -0 0" xyz="0.00509194 0.00581104 6.273e-05"/>
			<inertia ixx="1e-02" ixy="0" ixz="0" iyy="1e-02" iyz="0" izz="1e-02"/>
		</inertial>
	</link>
	<link name="L_INDEXMP_P_LINK">
		<visual>
			<origin rpy="0 -0 0" xyz="0.02 0 0"/>
			<geometry>
				<mesh filename="package://hrpsys_ros_bridge_tutorials/models/HRP3HAND_L_meshes/L_INDEXMP_P_LINK_mesh.dae" scale="1 1 1"/>
			</geometry>
		</visual>
		<collision>
			<origin rpy="0 -0 0" xyz="0.02 0 0"/>
			<geometry>
				<mesh filename="package://hrpsys_ros_bridge_tutorials/models/HRP3HAND_L_meshes/L_INDEXMP_P_LINK_mesh.dae" scale="1 1 1"/>
			</geometry>
		</collision>
		<inertial>
			<mass value="0.106231"/>
			<origin rpy="0 -0 0" xyz="-0.00078463 -0.00129762 -0.0281757"/>
			<inertia ixx="1e-02" ixy="0" ixz="0" iyy="1e-02" iyz="0" izz="1e-02"/>
		</inertial>
	</link>
	<link name="L_INDEXPIP_R_LINK">
		<visual>
			<origin rpy="0 -0 0" xyz="0 -0.01125 -0.055"/>
			<geometry>
				<mesh filename="package://hrpsys_ros_bridge_tutorials/models/HRP3HAND_L_meshes/L_INDEXPIP_R_LINK_mesh.dae" scale="1 1 1"/>
			</geometry>
		</visual>
		<collision>
			<origin rpy="0 -0 0" xyz="0 -0.01125 -0.055"/>
			<geometry>
				<mesh filename="package://hrpsys_ros_bridge_tutorials/models/HRP3HAND_L_meshes/L_INDEXPIP_R_LINK_mesh.dae" scale="1 1 1"/>
			</geometry>
		</collision>
		<inertial>
			<mass value="0.0215832"/>
			<origin rpy="0 -0 0" xyz="0.0210676 -0.0134797 -0.0204042"/>
			<inertia ixx="1e-02" ixy="0" ixz="0" iyy="1e-02" iyz="0" izz="1e-02"/>
		</inertial>
	</link>
	<link name="L_MIDDLEPIP_R_LINK">
		<visual>
			<origin rpy="0 -0 0" xyz="0 -0.02145 -0.2097"/>
			<geometry>
				<mesh filename="package://hrpsys_ros_bridge_tutorials/models/HRP3HAND_L_meshes/L_MIDDLEPIP_R_LINK_mesh.dae" scale="1 1 1"/>
			</geometry>
		</visual>
		<collision>
			<origin rpy="0 -0 0" xyz="0 -0.02145 -0.2097"/>
			<geometry>
				<mesh filename="package://hrpsys_ros_bridge_tutorials/models/HRP3HAND_L_meshes/L_MIDDLEPIP_R_LINK_mesh.dae" scale="1 1 1"/>
			</geometry>
		</collision>
		<inertial>
			<mass value="0.0367086"/>
			<origin rpy="0 -0 0" xyz="-0.0171953 -0.0140037 -0.0195553"/>
			<inertia ixx="1e-02" ixy="0" ixz="0" iyy="1e-02" iyz="0" izz="1e-02"/>
		</inertial>
	</link>
	<link name="L_THUMBCM_Y_LINK">
		<visual>
			<origin rpy="0 -0 0" xyz="0 -0.0102 -0.1292"/>
			<geometry>
				<mesh filename="package://hrpsys_ros_bridge_tutorials/models/HRP3HAND_L_meshes/L_THUMBCM_Y_LINK_mesh.dae" scale="1 1 1"/>
			</geometry>
		</visual>
		<collision>
			<origin rpy="0 -0 0" xyz="0 -0.0102 -0.1292"/>
			<geometry>
				<mesh filename="package://hrpsys_ros_bridge_tutorials/models/HRP3HAND_L_meshes/L_THUMBCM_Y_LINK_mesh.dae" scale="1 1 1"/>
			</geometry>
		</collision>
		<inertial>
			<mass value="0.10048"/>
			<origin rpy="0 -0 0" xyz="0.0314882 -0.00644999 0.00140644"/>
			<inertia ixx="1e-02" ixy="0" ixz="0" iyy="1e-02" iyz="0" izz="1e-02"/>
		</inertial>
	</link>
	<link name="L_THUMBCM_P_LINK">
		<visual>
			<origin rpy="0 -0 0" xyz="0.045 0 0"/>
			<geometry>
				<mesh filename="package://hrpsys_ros_bridge_tutorials/models/HRP3HAND_L_meshes/L_THUMBCM_P_LINK_mesh.dae" scale="1 1 1"/>
			</geometry>
		</visual>
		<collision>
			<origin rpy="0 -0 0" xyz="0.045 0 0"/>
			<geometry>
				<mesh filename="package://hrpsys_ros_bridge_tutorials/models/HRP3HAND_L_meshes/L_THUMBCM_P_LINK_mesh.dae" scale="1 1 1"/>
			</geometry>
		</collision>
		<inertial>
			<mass value="0.0483845"/>
			<origin rpy="0 -0 0" xyz="0.00682086 -0.013234 -0.0305205"/>
			<inertia ixx="1e-02" ixy="0" ixz="0" iyy="1e-02" iyz="0" izz="1e-02"/>
		</inertial>
	</link>
	<joint name="L_INDEXMP_R" type="revolute">
		<parent link="LARM_LINK6"/>
		<child link="L_INDEXMP_R_LINK"/>
		<origin rpy="0 -0 0 " xyz="0 -0.0102 -0.1547"/>
		<axis xyz="-1 0 0"/>
		<limit effort="1000" lower="-0.261799" upper="1.6057" velocity="10.0"/>
		<dynamics damping="0.2" friction="0"/>
	</joint>
	<transmission name="L_INDEXMP_R_trans" type="pr2_mechanism_model/SimpleTransmission">
		<actuator name="L_INDEXMP_R_motor"/>
		<joint name="L_INDEXMP_R"/>
		<mechanicalReduction>1</mechanicalReduction>
	</transmission>
	<gazebo reference="L_INDEXMP_R">
		<cfmDamping>0.4</cfmDamping>
	</gazebo>
	<joint name="L_INDEXMP_P" type="revolute">
		<parent link="L_INDEXMP_R_LINK"/>
		<child link="L_INDEXMP_P_LINK"/>
		<origin rpy="0 -0 0 " xyz="0.02 0 0"/>
		<axis xyz="0 -1 0"/>
		<limit effort="1000" lower="-0" upper="1.5708" velocity="10.0"/>
		<dynamics damping="0.2" friction="0"/>
	</joint>
	<transmission name="L_INDEXMP_P_trans" type="pr2_mechanism_model/SimpleTransmission">
		<actuator name="L_INDEXMP_P_motor"/>
		<joint name="L_INDEXMP_P"/>
		<mechanicalReduction>1</mechanicalReduction>
	</transmission>
	<gazebo reference="L_INDEXMP_P">
		<cfmDamping>0.4</cfmDamping>
	</gazebo>
	<joint name="L_INDEXPIP_R" type="revolute">
		<parent link="L_INDEXMP_P_LINK"/>
		<child link="L_INDEXPIP_R_LINK"/>
		<origin rpy="0 -0 0 " xyz="0 -0.01125 -0.055"/>
		<axis xyz="-1 0 0"/>
		<limit effort="1000" lower="-0.698132" upper="2.00713" velocity="10.0"/>
		<dynamics damping="0.2" friction="0"/>
	</joint>
	<transmission name="L_INDEXPIP_R_trans" type="pr2_mechanism_model/SimpleTransmission">
		<actuator name="L_INDEXPIP_R_motor"/>
		<joint name="L_INDEXPIP_R"/>
		<mechanicalReduction>1</mechanicalReduction>
	</transmission>
	<gazebo reference="L_INDEXPIP_R">
		<cfmDamping>0.4</cfmDamping>
	</gazebo>
	<joint name="L_MIDDLEPIP_R" type="revolute">
		<parent link="LARM_LINK6"/>
		<child link="L_MIDDLEPIP_R_LINK"/>
		<origin rpy="0 -0 0 " xyz="0 -0.02145 -0.2097"/>
		<axis xyz="-1 0 0"/>
		<limit effort="1000" lower="-0.698132" upper="2.00713" velocity="10.0"/>
		<dynamics damping="0.2" friction="0"/>
	</joint>
	<transmission name="L_MIDDLEPIP_R_trans" type="pr2_mechanism_model/SimpleTransmission">
		<actuator name="L_MIDDLEPIP_R_motor"/>
		<joint name="L_MIDDLEPIP_R"/>
		<mechanicalReduction>1</mechanicalReduction>
	</transmission>
	<gazebo reference="L_MIDDLEPIP_R">
		<cfmDamping>0.4</cfmDamping>
	</gazebo>
	<joint name="L_THUMBCM_Y" type="revolute">
		<parent link="LARM_LINK6"/>
		<child link="L_THUMBCM_Y_LINK"/>
		<origin rpy="0 -0 0 " xyz="0 -0.0102 -0.1292"/>
		<axis xyz="0 0 -1"/>
		<limit effort="1000" lower="-0.261799" upper="1.6057" velocity="10.0"/>
		<dynamics damping="0.2" friction="0"/>
	</joint>
	<transmission name="L_THUMBCM_Y_trans" type="pr2_mechanism_model/SimpleTransmission">
		<actuator name="L_THUMBCM_Y_motor"/>
		<joint name="L_THUMBCM_Y"/>
		<mechanicalReduction>1</mechanicalReduction>
	</transmission>
	<gazebo reference="L_THUMBCM_Y">
		<cfmDamping>0.4</cfmDamping>
	</gazebo>
	<joint name="L_THUMBCM_P" type="revolute">
		<parent link="L_THUMBCM_Y_LINK"/>
		<child link="L_THUMBCM_P_LINK"/>
		<origin rpy="0 -0 0 " xyz="0.045 0 0"/>
		<axis xyz="0 -1 0"/>
		<limit effort="1000" lower="-0.523599" upper="1.6057" velocity="10.0"/>
		<dynamics damping="0.2" friction="0"/>
	</joint>
	<transmission name="L_THUMBCM_P_trans" type="pr2_mechanism_model/SimpleTransmission">
		<actuator name="L_THUMBCM_P_motor"/>
		<joint name="L_THUMBCM_P"/>
		<mechanicalReduction>1</mechanicalReduction>
	</transmission>
	<gazebo reference="L_THUMBCM_P">
		<cfmDamping>0.4</cfmDamping>
	</gazebo>
	<link name="RARM_LINK6">
		<visual>
			<origin rpy="0 -0 0" xyz="0 0 0"/>
			<geometry>
				<mesh filename="package://hrpsys_ros_bridge_tutorials/models/HRP3HAND_R_meshes/RARM_LINK6_mesh.dae" scale="1 1 1"/>
			</geometry>
		</visual>
		<collision>
			<origin rpy="0 -0 0" xyz="0 0 0"/>
			<geometry>
				<mesh filename="package://hrpsys_ros_bridge_tutorials/models/HRP3HAND_R_meshes/RARM_LINK6_mesh.dae" scale="1 1 1"/>
			</geometry>
		</collision>
		<inertial>
			<mass value="1.33256"/>
			<origin rpy="0 -0 0" xyz="0.00067085 -0.00738842 -0.085722"/>
			<inertia ixx="0.00227076" ixy="-6.3e-07" ixz="3.217e-05" iyy="0.00214173" iyz="3.72e-06" izz="0.00067255"/>
		</inertial>
	</link>
	<gazebo reference="RARM_LINK6">
		<mu1>0.9</mu1>
		<mu2>0.9</mu2>
	</gazebo>
	<link name="R_INDEXMP_R_LINK">
		<visual>
			<origin rpy="0 -0 0" xyz="0 0.0102 -0.1547"/>
			<geometry>
				<mesh filename="package://hrpsys_ros_bridge_tutorials/models/HRP3HAND_R_meshes/R_INDEXMP_R_LINK_mesh.dae" scale="1 1 1"/>
			</geometry>
		</visual>
		<collision>
			<origin rpy="0 -0 0" xyz="0 0.0102 -0.1547"/>
			<geometry>
				<mesh filename="package://hrpsys_ros_bridge_tutorials/models/HRP3HAND_R_meshes/R_INDEXMP_R_LINK_mesh.dae" scale="1 1 1"/>
			</geometry>
		</collision>
		<inertial>
			<mass value="0.0158629"/>
			<origin rpy="0 -0 0" xyz="0.00509194 -0.00581104 6.273e-05"/>
			<inertia ixx="1e-02" ixy="0" ixz="0" iyy="1e-02" iyz="0" izz="1e-02"/>
		</inertial>
	</link>
	<link name="R_INDEXMP_P_LINK">
		<visual>
			<origin rpy="0 -0 0" xyz="0.02 0 0"/>
			<geometry>
				<mesh filename="package://hrpsys_ros_bridge_tutorials/models/HRP3HAND_R_meshes/R_INDEXMP_P_LINK_mesh.dae" scale="1 1 1"/>
			</geometry>
		</visual>
		<collision>
			<origin rpy="0 -0 0" xyz="0.02 0 0"/>
			<geometry>
				<mesh filename="package://hrpsys_ros_bridge_tutorials/models/HRP3HAND_R_meshes/R_INDEXMP_P_LINK_mesh.dae" scale="1 1 1"/>
			</geometry>
		</collision>
		<inertial>
			<mass value="0.106231"/>
			<origin rpy="0 -0 0" xyz="-0.00078463 0.00129762 -0.0281757"/>
			<inertia ixx="1e-02" ixy="0" ixz="0" iyy="1e-02" iyz="0" izz="1e-02"/>
		</inertial>
	</link>
	<link name="R_INDEXPIP_R_LINK">
		<visual>
			<origin rpy="0 -0 0" xyz="0 0.01125 -0.055"/>
			<geometry>
				<mesh filename="package://hrpsys_ros_bridge_tutorials/models/HRP3HAND_R_meshes/R_INDEXPIP_R_LINK_mesh.dae" scale="1 1 1"/>
			</geometry>
		</visual>
		<collision>
			<origin rpy="0 -0 0" xyz="0 0.01125 -0.055"/>
			<geometry>
				<mesh filename="package://hrpsys_ros_bridge_tutorials/models/HRP3HAND_R_meshes/R_INDEXPIP_R_LINK_mesh.dae" scale="1 1 1"/>
			</geometry>
		</collision>
		<inertial>
			<mass value="0.0215832"/>
			<origin rpy="0 -0 0" xyz="0.0210676 0.0134797 -0.0204042"/>
			<inertia ixx="1e-02" ixy="0" ixz="0" iyy="1e-02" iyz="0" izz="1e-02"/>
		</inertial>
	</link>
	<link name="R_MIDDLEPIP_R_LINK">
		<visual>
			<origin rpy="0 -0 0" xyz="0 0.02145 -0.2097"/>
			<geometry>
				<mesh filename="package://hrpsys_ros_bridge_tutorials/models/HRP3HAND_R_meshes/R_MIDDLEPIP_R_LINK_mesh.dae" scale="1 1 1"/>
			</geometry>
		</visual>
		<collision>
			<origin rpy="0 -0 0" xyz="0 0.02145 -0.2097"/>
			<geometry>
				<mesh filename="package://hrpsys_ros_bridge_tutorials/models/HRP3HAND_R_meshes/R_MIDDLEPIP_R_LINK_mesh.dae" scale="1 1 1"/>
			</geometry>
		</collision>
		<inertial>
			<mass value="0.0367086"/>
			<origin rpy="0 -0 0" xyz="-0.0171953 0.0140037 -0.0195553"/>
			<inertia ixx="1e-02" ixy="0" ixz="0" iyy="1e-02" iyz="0" izz="1e-02"/>
		</inertial>
	</link>
	<link name="R_THUMBCM_Y_LINK">
		<visual>
			<origin rpy="0 -0 0" xyz="0 0.0102 -0.1292"/>
			<geometry>
				<mesh filename="package://hrpsys_ros_bridge_tutorials/models/HRP3HAND_R_meshes/R_THUMBCM_Y_LINK_mesh.dae" scale="1 1 1"/>
			</geometry>
		</visual>
		<collision>
			<origin rpy="0 -0 0" xyz="0 0.0102 -0.1292"/>
			<geometry>
				<mesh filename="package://hrpsys_ros_bridge_tutorials/models/HRP3HAND_R_meshes/R_THUMBCM_Y_LINK_mesh.dae" scale="1 1 1"/>
			</geometry>
		</collision>
		<inertial>
			<mass value="0.10048"/>
			<origin rpy="0 -0 0" xyz="0.0314882 0.00644999 0.00140644"/>
			<inertia ixx="1e-02" ixy="0" ixz="0" iyy="1e-02" iyz="0" izz="1e-02"/>
		</inertial>
	</link>
	<link name="R_THUMBCM_P_LINK">
		<visual>
			<origin rpy="0 -0 0" xyz="0.045 0 0"/>
			<geometry>
				<mesh filename="package://hrpsys_ros_bridge_tutorials/models/HRP3HAND_R_meshes/R_THUMBCM_P_LINK_mesh.dae" scale="1 1 1"/>
			</geometry>
		</visual>
		<collision>
			<origin rpy="0 -0 0" xyz="0.045 0 0"/>
			<geometry>
				<mesh filename="package://hrpsys_ros_bridge_tutorials/models/HRP3HAND_R_meshes/R_THUMBCM_P_LINK_mesh.dae" scale="1 1 1"/>
			</geometry>
		</collision>
		<inertial>
			<mass value="0.0483845"/>
			<origin rpy="0 -0 0" xyz="0.00682086 0.013234 -0.0305205"/>
			<inertia ixx="1e-02" ixy="0" ixz="0" iyy="1e-02" iyz="0" izz="1e-02"/>
		</inertial>
	</link>
	<joint name="R_INDEXMP_R" type="revolute">
		<parent link="RARM_LINK6"/>
		<child link="R_INDEXMP_R_LINK"/>
		<origin rpy="0 -0 0 " xyz="0 0.0102 -0.1547"/>
		<axis xyz="1 0 0"/>
		<limit effort="1000" lower="-0.261799" upper="1.6057" velocity="10.0"/>
		<dynamics damping="0.2" friction="0"/>
	</joint>
	<transmission name="R_INDEXMP_R_trans" type="pr2_mechanism_model/SimpleTransmission">
		<actuator name="R_INDEXMP_R_motor"/>
		<joint name="R_INDEXMP_R"/>
		<mechanicalReduction>1</mechanicalReduction>
	</transmission>
	<gazebo reference="R_INDEXMP_R">
		<cfmDamping>0.4</cfmDamping>
	</gazebo>
	<joint name="R_INDEXMP_P" type="revolute">
		<parent link="R_INDEXMP_R_LINK"/>
		<child link="R_INDEXMP_P_LINK"/>
		<origin rpy="0 -0 0 " xyz="0.02 0 0"/>
		<axis xyz="0 -1 0"/>
		<limit effort="1000" lower="-0" upper="1.5708" velocity="10.0"/>
		<dynamics damping="0.2" friction="0"/>
	</joint>
	<transmission name="R_INDEXMP_P_trans" type="pr2_mechanism_model/SimpleTransmission">
		<actuator name="R_INDEXMP_P_motor"/>
		<joint name="R_INDEXMP_P"/>
		<mechanicalReduction>1</mechanicalReduction>
	</transmission>
	<gazebo reference="R_INDEXMP_P">
		<cfmDamping>0.4</cfmDamping>
	</gazebo>
	<joint name="R_INDEXPIP_R" type="revolute">
		<parent link="R_INDEXMP_P_LINK"/>
		<child link="R_INDEXPIP_R_LINK"/>
		<origin rpy="0 -0 0 " xyz="0 0.01125 -0.055"/>
		<axis xyz="1 0 0"/>
		<limit effort="1000" lower="-0.698132" upper="2.00713" velocity="10.0"/>
		<dynamics damping="0.2" friction="0"/>
	</joint>
	<transmission name="R_INDEXPIP_R_trans" type="pr2_mechanism_model/SimpleTransmission">
		<actuator name="R_INDEXPIP_R_motor"/>
		<joint name="R_INDEXPIP_R"/>
		<mechanicalReduction>1</mechanicalReduction>
	</transmission>
	<gazebo reference="R_INDEXPIP_R">
		<cfmDamping>0.4</cfmDamping>
	</gazebo>
	<joint name="R_MIDDLEPIP_R" type="revolute">
		<parent link="RARM_LINK6"/>
		<child link="R_MIDDLEPIP_R_LINK"/>
		<origin rpy="0 -0 0 " xyz="0 0.02145 -0.2097"/>
		<axis xyz="1 0 0"/>
		<limit effort="1000" lower="-0.698132" upper="2.00713" velocity="10.0"/>
		<dynamics damping="0.2" friction="0"/>
	</joint>
	<transmission name="R_MIDDLEPIP_R_trans" type="pr2_mechanism_model/SimpleTransmission">
		<actuator name="R_MIDDLEPIP_R_motor"/>
		<joint name="R_MIDDLEPIP_R"/>
		<mechanicalReduction>1</mechanicalReduction>
	</transmission>
	<gazebo reference="R_MIDDLEPIP_R">
		<cfmDamping>0.4</cfmDamping>
	</gazebo>
	<joint name="R_THUMBCM_Y" type="revolute">
		<parent link="RARM_LINK6"/>
		<child link="R_THUMBCM_Y_LINK"/>
		<origin rpy="0 -0 0 " xyz="0 0.0102 -0.1292"/>
		<axis xyz="0 0 1"/>
		<limit effort="1000" lower="-0.261799" upper="1.6057" velocity="10.0"/>
		<dynamics damping="0.2" friction="0"/>
	</joint>
	<transmission name="R_THUMBCM_Y_trans" type="pr2_mechanism_model/SimpleTransmission">
		<actuator name="R_THUMBCM_Y_motor"/>
		<joint name="R_THUMBCM_Y"/>
		<mechanicalReduction>1</mechanicalReduction>
	</transmission>
	<gazebo reference="R_THUMBCM_Y">
		<cfmDamping>0.4</cfmDamping>
	</gazebo>
	<joint name="R_THUMBCM_P" type="revolute">
		<parent link="R_THUMBCM_Y_LINK"/>
		<child link="R_THUMBCM_P_LINK"/>
		<origin rpy="0 -0 0 " xyz="0.045 0 0"/>
		<axis xyz="0 -1 0"/>
		<limit effort="1000" lower="-0.523599" upper="1.6057" velocity="10.0"/>
		<dynamics damping="0.2" friction="0"/>
	</joint>
	<transmission name="R_THUMBCM_P_trans" type="pr2_mechanism_model/SimpleTransmission">
		<actuator name="R_THUMBCM_P_motor"/>
		<joint name="R_THUMBCM_P"/>
		<mechanicalReduction>1</mechanicalReduction>
	</transmission>
	<gazebo reference="R_THUMBCM_P">
		<cfmDamping>0.4</cfmDamping>
	</gazebo>
	<link name="head_root"/>
	<joint name="head_root_joint" type="fixed">
		<parent link="head_root"/>
		<child link="head"/>
	</joint>
	<link name="head">
		<inertial>
			<origin rpy="0 0 0" xyz="-0.075493 3.3383E-05 0.02774"/>
			<mass value="1.4199"/>
			<inertia ixx="0.0039688" ixy="-1.5797E-06" ixz="-0.00089293" iyy="0.0041178" iyz="-6.8415E-07" izz="0.0035243"/>
		</inertial>
		<visual>
			<origin rpy="0 0 0" xyz="0 0  0"/>
			<geometry>
				<mesh filename="package://multisense_description/meshes/head.dae"/>
			</geometry>
			<material name="">
				<color rgba="0.9098 0.44314 0.031373 1"/>
			</material>
		</visual>
		<collision>
			<origin rpy="0 0 0" xyz="-0.0503 0 -0.00195"/>
			<geometry>
				<box size="0.1311 0.12 0.0591"/>
			</geometry>
		</collision>
	</link>
	<joint name="left_camera_optical_joint" type="continuous">
		<parent link="left_camera_optical_frame"/>
		<child link="motor"/>
	</joint>
	<link name="motor"/>
	<link name="spindle"/>
	<joint name="motor_joint" type="continuous">
		<parent link="motor"/>
		<child link="spindle"/>
		<axis xyz="0 0 1"/>
	</joint>
	<joint name="spindle_joint" type="continuous">
		<parent link="spindle"/>
		<child link="hokuyo_link"/>
	</joint>
	<link name="hokuyo_link">
		<inertial>
			<origin rpy="0 0 0" xyz="0.012428 0.0004084 -0.0041835"/>
			<mass value="0.057664"/>
			<inertia ixx="3.7174E-05" ixy="4.9927E-08" ixz="1.1015E-05" iyy="4.2412E-05" iyz="-9.8165E-09" izz="4.167E-05"/>
		</inertial>
		<visual>
			<origin rpy="-1.9179632679 -1.57079632679 0" xyz="-.03 -.1 0"/>
			<geometry>
				<mesh filename="package://multisense_description/meshes/head_camera.dae"/>
			</geometry>
			<material name="">
				<color rgba="0.72941 0.35686 0.023529 1"/>
			</material>
		</visual>
		<collision>
			<origin rpy="0 0 0" xyz="0.03 0 0.0235"/>
			<geometry>
				<cylinder length="0.047" radius="0.024425"/>
			</geometry>
		</collision>
	</link>
	<link name="head_hokuyo_frame"/>
	<joint name="head_hokuyo_frame_joint" type="fixed">
		<!--
     This transform accounts for the fact ROS expects laser data in the x forward,
     y left, z up frame and the calibraton has the data in x left, y up, z forward.
     Thus a roll of -90 * a pitch of -90 will make the appropriate transform. Note
     Roll and pitch are both with respect to the origional x left, y up, z forward frame
     -->
		<origin rpy="-1.57079632679 -1.57079632679 0.0" xyz="0 0 0"/>
		<parent link="hokuyo_link"/>
		<child link="head_hokuyo_frame"/>
	</joint>
	<joint name="left_camera_frame_joint" type="fixed">
		<!-- optical frame collocated with tilting DOF -->
		<origin xyz="0.0 0.035 -0.002"/>
		<parent link="head"/>
		<child link="left_camera_frame"/>
	</joint>
	<link name="left_camera_frame">
		<inertial>
			<mass value="0.1"/>
			<origin xyz="0 0 0"/>
			<inertia ixx="0.001" ixy="0.0" ixz="0.0" iyy="0.001" iyz="0.0" izz="0.001"/>
		</inertial>
	</link>
	<joint name="left_camera_optical_frame_joint" type="fixed">
		<origin rpy="-1.57079632679 0.0 -1.57079632679" xyz="0 0 0"/>
		<parent link="left_camera_frame"/>
		<child link="left_camera_optical_frame"/>
	</joint>
	<link name="left_camera_optical_frame"/>
	<joint name="right_camera_frame_joint" type="fixed">
		<origin xyz="0.0 -0.035 -0.002"/>
		<parent link="head"/>
		<child link="right_camera_frame"/>
	</joint>
	<link name="right_camera_frame">
		<inertial>
			<mass value="0.1"/>
			<origin xyz="0 0 0"/>
			<inertia ixx="0.001" ixy="0.0" ixz="0.0" iyy="0.001" iyz="0.0" izz="0.001"/>
		</inertial>
	</link>
	<joint name="right_camera_optical_frame_joint" type="fixed">
		<origin rpy="-1.5708 0.0 -1.5708" xyz="0 0 0"/>
		<parent link="right_camera_frame"/>
		<child link="right_camera_optical_frame"/>
	</joint>
	<link name="right_camera_optical_frame"/>
	<joint name="center_top_led_frame_joint" type="fixed">
		<origin xyz="0.01125 0.0 0.0105"/>
		<parent link="head"/>
		<child link="center_top_led_frame"/>
	</joint>
	<link name="center_top_led_frame">
		<inertial>
			<mass value="0.1"/>
			<origin xyz="0 0 0"/>
			<inertia ixx="0.001" ixy="0.0" ixz="0.0" iyy="0.001" iyz="0.0" izz="0.001"/>
		</inertial>
	</link>
	<joint name="center_bottom_led_frame_joint" type="fixed">
		<origin xyz="0.01125 0.0 -0.0155"/>
		<parent link="head"/>
		<child link="center_bottom_led_frame"/>
	</joint>
	<link name="center_bottom_led_frame">
		<inertial>
			<mass value="0.1"/>
			<origin xyz="0 0 0"/>
			<inertia ixx="0.001" ixy="0.0" ixz="0.0" iyy="0.001" iyz="0.0" izz="0.001"/>
		</inertial>
	</link>
	<joint name="left_led_frame_joint" type="fixed">
		<origin rpy="0 -0.15 0.53" xyz="-0.01443 0.07452 0.050346"/>
		<parent link="head"/>
		<child link="left_led_frame"/>
	</joint>
	<link name="left_led_frame">
		<inertial>
			<mass value="0.1"/>
			<origin xyz="0 0 0"/>
			<inertia ixx="0.001" ixy="0.0" ixz="0.0" iyy="0.001" iyz="0.0" izz="0.001"/>
		</inertial>
	</link>
	<joint name="right_led_frame_joint" type="fixed">
		<origin rpy="0 -0.15 -0.53" xyz="-0.01443 -0.07452 0.050346"/>
		<parent link="head"/>
		<child link="right_led_frame"/>
	</joint>
	<link name="right_led_frame">
		<inertial>
			<mass value="0.1"/>
			<origin xyz="0 0 0"/>
			<inertia ixx="0.001" ixy="0.0" ixz="0.0" iyy="0.001" iyz="0.0" izz="0.001"/>
		</inertial>
	</link>
	<link name="accel"/>
	<joint name="accel_joint" type="fixed">
		<origin rpy="0 1.5707 0" xyz="-.0475 .0302 -.00275"/>
		<parent link="head_root"/>
		<child link="accel"/>
	</joint>
	<link name="mag"/>
	<joint name="mag_joint" type="fixed">
		<origin rpy="0 1.5707 0" xyz="-.0475 .0302 -.00275"/>
		<parent link="head_root"/>
		<child link="mag"/>
	</joint>
	<link name="gyro"/>
	<joint name="gyro_joint" type="fixed">
		<origin rpy="1.5707 3.14159 1.5707 " xyz="-.0476 .0388 -.00075"/>
		<parent link="head_root"/>
		<child link="gyro"/>
	</joint>
	<joint name="hrp2_to_multisense" type="fixed">
		<parent link="HEAD_LINK1"/>
		<!--child  link="head" /-->
		<!-- for drcsim / multisense_sl_description -->
		<child link="head_root"/>
		<!-- for multisense / multisense_description -->
		<!--origin xyz="0.07595 0 0.19825" rpy="0 0 0"/-->
		<origin rpy="0 0 0" xyz="0.0 0.0 0.1"/>
		<!-- calibrated 2015.01.21-->
	</joint>
	<joint name="lfsensor_joint" type="fixed">
		<origin rpy="0.000000 -0.000000 0.000000" xyz="0 0 -0.105"/>
		<parent link="LLEG_LINK5"/>
		<child link="lfsensor"/>
	</joint>
	<link name="lfsensor"/>
	<joint name="rfsensor_joint" type="fixed">
		<origin rpy="0.000000 -0.000000 0.000000" xyz="0 0 -0.105"/>
		<parent link="RLEG_LINK5"/>
		<child link="rfsensor"/>
	</joint>
	<link name="rfsensor"/>
	<joint name="lhsensor_joint" type="fixed">
		<origin rpy="0.000000 -0.000000 0.000000" xyz="0 0 -0.077"/>
		<parent link="LARM_LINK6"/>
		<child link="lhsensor"/>
	</joint>
	<link name="lhsensor"/>
	<joint name="rhsensor_joint" type="fixed">
		<origin rpy="0.000000 -0.000000 0.000000" xyz="0 0 -0.077"/>
		<parent link="RARM_LINK6"/>
		<child link="rhsensor"/>
	</joint>
	<link name="rhsensor"/>
	<joint name="CARMINE_joint" type="fixed">
		<origin rpy="-1.787003 0.037998 -1.576002" xyz="0.093 0.017 0.131"/>
		<parent link="HEAD_LINK1"/>
		<child link="CARMINE"/>
	</joint>
	<link name="CARMINE"/>
	<joint name="LARM_cb_jig_joint" type="fixed">
		<origin rpy="0.000000 -0.000000 1.570796" xyz="0 0.2 -0.2"/>
		<parent link="LARM_LINK6"/>
		<child link="LARM_cb_jig"/>
	</joint>
	<link name="LARM_cb_jig"/>
	<joint name="RARM_cb_jig_joint" type="fixed">
		<origin rpy="0.000000 -0.000000 1.570796" xyz="0 -0.2 -0.2"/>
		<parent link="RARM_LINK6"/>
		<child link="RARM_cb_jig"/>
	</joint>
	<link name="RARM_cb_jig"/>
	<joint name="fisheye_joint" type="fixed">
		<origin rpy="-3.141588 -0.791592 -0.001595" xyz="0.13 0.0 0.21"/>
		<parent link="CHEST_LINK1"/>
		<child link="fisheye"/>
	</joint>
	<link name="fisheye"/>
	<joint name="rleg_end_coords_joint" type="fixed">
		<origin rpy="0.000000 -0.000000 0.000000" xyz="-0.079411 -0.01 -0.034"/>
		<parent link="RLEG_LINK6"/>
		<child link="rleg_end_coords"/>
	</joint>
	<link name="rleg_end_coords"/>
	<joint name="lleg_end_coords_joint" type="fixed">
		<origin rpy="0.000000 -0.000000 0.000000" xyz="-0.079411 0.01 -0.034"/>
		<parent link="LLEG_LINK6"/>
		<child link="lleg_end_coords"/>
	</joint>
	<link name="lleg_end_coords"/>
	<joint name="rarm_end_coords_joint" type="fixed">
		<origin rpy="-0.000000 1.570796 0.000000" xyz="-0.0042 0.0392 -0.1245"/>
		<parent link="RARM_LINK6"/>
		<child link="rarm_end_coords"/>
	</joint>
	<link name="rarm_end_coords"/>
	<joint name="larm_end_coords_joint" type="fixed">
		<origin rpy="-0.000000 1.570796 0.000000" xyz="-0.0042 -0.0392 -0.1245"/>
		<parent link="LARM_LINK6"/>
		<child link="larm_end_coords"/>
	</joint>
	<link name="larm_end_coords"/>
	<joint name="head_end_coords_joint" type="fixed">
		<origin rpy="3.141593 1.396265 3.141593" xyz="0.079 0.0 0.1335"/>
		<parent link="HEAD_LINK1"/>
		<child link="head_end_coords"/>
	</joint>
	<link name="head_end_coords"/>
	<joint name="torso_end_coords_joint" type="fixed">
		<origin rpy="0.000000 -0.000000 0.000000" xyz="-0.032 0.0 -1.0557"/>
		<parent link="CHEST_LINK1"/>
		<child link="torso_end_coords"/>
	</joint>
	<link name="torso_end_coords"/>
	<gazebo reference="LLEG_LINK5">
		<kp>1400000.0</kp>
		<kd>280.0</kd>
		<mu1>1.5</mu1>
		<mu2>1.5</mu2>
		<fdir1>1 0 0</fdir1>
		<maxVel>10.0</maxVel>
		<minDepth>0.00</minDepth>
	</gazebo>
	<gazebo reference="RLEG_LINK5">
		<kp>1400000.0</kp>
		<kd>280.0</kd>
		<mu1>1.5</mu1>
		<mu2>1.5</mu2>
		<fdir1>1 0 0</fdir1>
		<maxVel>10.0</maxVel>
		<minDepth>0.00</minDepth>
	</gazebo>
	<gazebo reference="LLEG_LINK6">
		<kp>1400000.0</kp>
		<kd>280.0</kd>
		<mu1>1.5</mu1>
		<mu2>1.5</mu2>
		<fdir1>1 0 0</fdir1>
		<maxVel>10.0</maxVel>
		<minDepth>0.00</minDepth>
	</gazebo>
	<gazebo reference="RLEG_LINK6">
		<kp>1400000.0</kp>
		<kd>280.0</kd>
		<mu1>1.5</mu1>
		<mu2>1.5</mu2>
		<fdir1>1 0 0</fdir1>
		<maxVel>10.0</maxVel>
		<minDepth>0.00</minDepth>
	</gazebo>
	<gazebo reference="L_INDEXMP_R_LINK">
		<kp>140.0</kp>
		<kd>2800.0</kd>
		<mu1>1.5</mu1>
		<mu2>1.5</mu2>
		<fdir1>1 0 0</fdir1>
		<maxVel>10.0</maxVel>
		<minDepth>0.00</minDepth>
	</gazebo>
	<gazebo reference="L_INDEXMP_P_LINK">
		<kp>140.0</kp>
		<kd>2800.0</kd>
		<mu1>1.5</mu1>
		<mu2>1.5</mu2>
		<fdir1>1 0 0</fdir1>
		<maxVel>10.0</maxVel>
		<minDepth>0.00</minDepth>
	</gazebo>
	<gazebo reference="L_INDEXPIP_R_LINK">
		<kp>140.0</kp>
		<kd>2800.0</kd>
		<mu1>1.5</mu1>
		<mu2>1.5</mu2>
		<fdir1>1 0 0</fdir1>
		<maxVel>10.0</maxVel>
		<minDepth>0.00</minDepth>
	</gazebo>
	<gazebo reference="L_MIDDLEPIP_R_LINK">
		<kp>140.0</kp>
		<kd>2800.0</kd>
		<mu1>1.5</mu1>
		<mu2>1.5</mu2>
		<fdir1>1 0 0</fdir1>
		<maxVel>10.0</maxVel>
		<minDepth>0.00</minDepth>
	</gazebo>
	<gazebo reference="L_THUMBCM_Y_LINK">
		<kp>140.0</kp>
		<kd>2800.0</kd>
		<mu1>1.5</mu1>
		<mu2>1.5</mu2>
		<fdir1>1 0 0</fdir1>
		<maxVel>10.0</maxVel>
		<minDepth>0.00</minDepth>
	</gazebo>
	<gazebo reference="L_THUMBCM_P_LINK">
		<kp>140.0</kp>
		<kd>2800.0</kd>
		<mu1>1.5</mu1>
		<mu2>1.5</mu2>
		<fdir1>1 0 0</fdir1>
		<maxVel>10.0</maxVel>
		<minDepth>0.00</minDepth>
	</gazebo>
	<gazebo reference="R_INDEXMP_R_LINK">
		<kp>140.0</kp>
		<kd>2800.0</kd>
		<mu1>1.5</mu1>
		<mu2>1.5</mu2>
		<fdir1>1 0 0</fdir1>
		<maxVel>10.0</maxVel>
		<minDepth>0.00</minDepth>
	</gazebo>
	<gazebo reference="R_INDEXMP_P_LINK">
		<kp>140.0</kp>
		<kd>2800.0</kd>
		<mu1>1.5</mu1>
		<mu2>1.5</mu2>
		<fdir1>1 0 0</fdir1>
		<maxVel>10.0</maxVel>
		<minDepth>0.00</minDepth>
	</gazebo>
	<gazebo reference="R_INDEXPIP_R_LINK">
		<kp>140.0</kp>
		<kd>2800.0</kd>
		<mu1>1.5</mu1>
		<mu2>1.5</mu2>
		<fdir1>1 0 0</fdir1>
		<maxVel>10.0</maxVel>
		<minDepth>0.00</minDepth>
	</gazebo>
	<gazebo reference="R_MIDDLEPIP_R_LINK">
		<kp>140.0</kp>
		<kd>2800.0</kd>
		<mu1>1.5</mu1>
		<mu2>1.5</mu2>
		<fdir1>1 0 0</fdir1>
		<maxVel>10.0</maxVel>
		<minDepth>0.00</minDepth>
	</gazebo>
	<gazebo reference="R_THUMBCM_Y_LINK">
		<kp>140.0</kp>
		<kd>2800.0</kd>
		<mu1>1.5</mu1>
		<mu2>1.5</mu2>
		<fdir1>1 0 0</fdir1>
		<maxVel>10.0</maxVel>
		<minDepth>0.00</minDepth>
	</gazebo>
	<gazebo reference="R_THUMBCM_P_LINK">
		<kp>140.0</kp>
		<kd>2800.0</kd>
		<mu1>1.5</mu1>
		<mu2>1.5</mu2>
		<fdir1>1 0 0</fdir1>
		<maxVel>10.0</maxVel>
		<minDepth>0.00</minDepth>
	</gazebo>
</robot>
